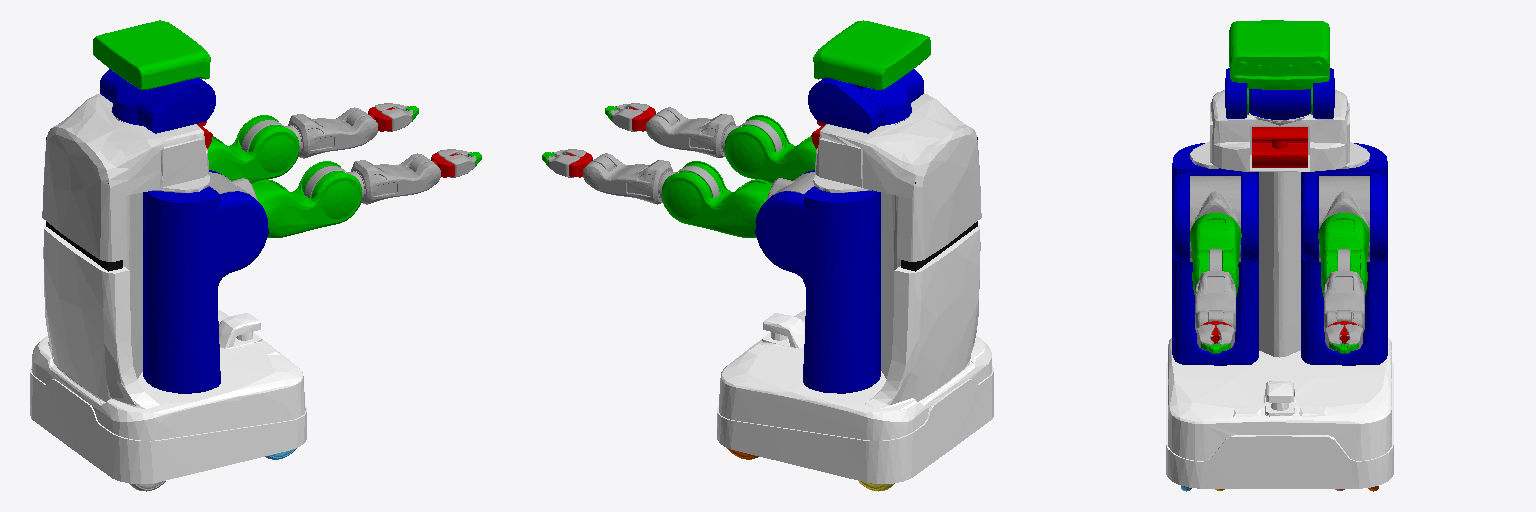
--- What the picture shows (computed from the rendered views, not written in the file) ---
Views: 3 orthographic renders of the robot side by side, from view 1: azimuth 30°, elevation 25°; view 2: azimuth 150°, elevation 25°; view 3: azimuth 270°, elevation 25°.
Model pr2 with 88 links and 87 joints (21 revolute, 19 continuous, 5 prismatic, 42 fixed), rooted at base_footprint, posed every joint at zero.
Links seen in each view (by area): view 1: base_link, torso_lift_link, r_shoulder_pan_link, head_tilt_link, r_upper_arm_link, head_pan_link, l_upper_arm_link, l_forearm_link, r_forearm_link, r_shoulder_lift_link; view 2: base_link, torso_lift_link, l_shoulder_pan_link, head_tilt_link, l_upper_arm_link, head_pan_link, r_upper_arm_link, l_forearm_link, r_forearm_link, l_shoulder_lift_link; view 3: base_link, torso_lift_link, r_shoulder_pan_link, l_shoulder_pan_link, head_tilt_link, head_pan_link, l_upper_arm_link, r_upper_arm_link, laser_tilt_mount_link, r_shoulder_lift_link, l_shoulder_lift_link, l_forearm_link (+1 smaller).
Link boxes in pixels (x1,y1,x2,y2): base_link: (30,224,306,483); torso_lift_link: (42,94,209,378); r_shoulder_pan_link: (143,170,268,393); head_tilt_link: (93,20,210,89); r_upper_arm_link: (251,161,361,237); head_pan_link: (100,69,215,133); l_upper_arm_link: (207,115,299,182); l_forearm_link: (288,107,377,158); r_forearm_link: (351,153,440,204); r_shoulder_lift_link: (208,172,257,200); base_link: (717,223,993,483); torso_lift_link: (813,93,981,378); l_shoulder_pan_link: (755,170,880,393); head_tilt_link: (813,20,930,89); l_upper_arm_link: (662,161,772,237); head_pan_link: (808,69,923,133); r_upper_arm_link: (724,115,816,182); l_forearm_link: (583,153,672,204); r_forearm_link: (646,107,735,157); l_shoulder_lift_link: (766,172,815,200); base_link: (1166,338,1393,488); torso_lift_link: (1190,90,1369,357); r_shoulder_pan_link: (1172,143,1258,365); l_shoulder_pan_link: (1301,143,1387,365); head_tilt_link: (1229,20,1329,114); head_pan_link: (1225,68,1334,119); l_upper_arm_link: (1318,213,1369,296); r_upper_arm_link: (1190,213,1241,296); laser_tilt_mount_link: (1252,127,1307,167); r_shoulder_lift_link: (1190,176,1240,261); l_shoulder_lift_link: (1319,176,1369,261); l_forearm_link: (1324,271,1364,332).
Size in the robot's own frame: 1.31 by 0.6668 by 1.33 metres.
35 mesh visuals loaded from 19 distinct referenced files (15 Collada DAE); not drawn: 10 (reference not matched to a file when rendering).

robot.urdf — pr2:
<?xml version="1.0" ?>
<!-- =================================================================================== -->
<!-- |    This document was autogenerated by xacro from [local-path]\Anaconda3\envs\urdf_analyzer\Lib\site-packages\rtbdata\xacro\pr2_description\robots\pr2.urdf.xacro | -->
<!-- |    EDITING THIS FILE BY HAND IS NOT RECOMMENDED                                 | -->
<!-- =================================================================================== -->
<robot name="pr2">
  <material name="Blue">
    <color rgba="0.0 0.0 0.8 1.0"/>
  </material>
  <material name="Green">
    <color rgba="0.0 0.8 0.0 1.0"/>
  </material>
  <material name="Grey">
    <color rgba="0.7 0.7 0.7 1.0"/>
  </material>
  <material name="Grey2">
    <color rgba="0.9 0.9 0.9 1.0"/>
  </material>
  <material name="Red">
    <color rgba="0.8 0.0 0.0 1.0"/>
  </material>
  <material name="White">
    <color rgba="1.0 1.0 1.0 1.0"/>
  </material>
  <material name="Black">
    <color rgba="0.1 0.1 0.1 1.0"/>
  </material>
  <material name="LightGrey">
    <color rgba="0.6 0.6 0.6 1.0"/>
  </material>
  <material name="Caster">
    <texture filename="package://pr2_description/materials/textures/pr2_caster_texture.png"/>
  </material>
  <material name="Wheel_l">
    <texture filename="package://pr2_description/materials/textures/pr2_wheel_left.png"/>
  </material>
  <material name="Wheel_r">
    <texture filename="package://pr2_description/materials/textures/pr2_wheel_right.png"/>
  </material>
  <material name="RollLinks">
    <texture filename="package://pr2_description/materials/textures/pr2_wheel_left.png"/>
  </material>
  <!--TODO Define and give source-->
  <!-- ============================   Shoulder   ============================ -->
  <!-- ============================   Upper Arm   ============================ -->
  <!-- ============================   Forearm   ============================ -->
  <!-- DATA SOURCES -->
  <!-- all link offsets, CG, limits are obtained from Function Engineering spreadsheet 090224_link_data.xls unless stated otherwise -->
  <!-- all link geometry sizes are obtained from Function provided CAD model unless stated otherwise -->
  <!-- all simplified collision geometry are hand approximated from CAD model, sometimes from respective bounding boxes -->
  <!-- This is the 'effective' wheel radius. Wheel radius for uncompressed wheel is 0.079.  mp 20080801 -->
  <gazebo>
    <plugin filename="libgazebo_ros_controller_manager.so" name="gazebo_ros_controller_manager">
      <alwaysOn>true</alwaysOn>
      <updateRate>1000.0</updateRate>
    </plugin>
    <plugin filename="libgazebo_ros_power_monitor.so" name="gazebo_ros_power_monitor_controller">
      <alwaysOn>true</alwaysOn>
      <updateRate>1.0</updateRate>
      <timeout>5</timeout>
      <powerStateTopic>power_state</powerStateTopic>
      <powerStateRate>10.0</powerStateRate>
      <fullChargeCapacity>87.78</fullChargeCapacity>
      <dischargeRate>-474</dischargeRate>
      <chargeRate>525</chargeRate>
      <dischargeVoltage>15.52</dischargeVoltage>
      <chargeVoltage>16.41</chargeVoltage>
    </plugin>
  </gazebo>
  <!-- Now we can start using the macros included above to define the actual PR2 -->
  <link name="base_link">
    <inertial>
      <mass value="116.0"/>
      <origin xyz="-0.061 0.0 0.1465"/>
      <inertia ixx="5.652232699207" ixy="-0.009719934438" ixz="1.293988226423" iyy="5.669473158652" iyz="-0.007379583694" izz="3.683196351726"/>
    </inertial>
    <visual>
      <origin rpy="0 0 0" xyz="0 0 0"/>
      <geometry>
        <mesh filename="package://pr2_description/meshes/base_v0/base.dae"/>
      </geometry>
      <material name="White"/>
    </visual>
    <collision>
      <origin rpy="0 0 0" xyz="0 0 0"/>
      <geometry>
        <mesh filename="package://pr2_description/meshes/base_v0/base_L.stl"/>
      </geometry>
    </collision>
  </link>
  <!-- base_footprint is a fictitious link(frame) that is on the ground right below base_link origin,
         navigation stack dedpends on this frame -->
  <link name="base_footprint">
    <visual>
      <origin rpy="0 0 0" xyz="0 0 0"/>
      <geometry>
        <box size="0.01 0.01 0.01"/>
      </geometry>
      <material name="White"/>
    </visual>
    <collision>
      <!-- represent base collision with a simple rectangular model, positioned by base_size_z s.t. top
             surface of the collision box matches the top surface of the PR2 base -->
      <origin rpy="0 0 0" xyz="0 0 0.071"/>
      <geometry>
        <box size="0.001 0.001 0.001"/>
      </geometry>
    </collision>
  </link>
  <joint name="base_footprint_joint" type="fixed">
    <origin rpy="0 0 0" xyz="0 0 0.051"/>
    <child link="base_link"/>
    <parent link="base_footprint"/>
  </joint>
  <!-- visualize bellow -->
  <link name="base_bellow_link">
    <inertial>
      <mass value="1.0"/>
      <origin xyz="0 0 0"/>
      <inertia ixx="0.01" ixy="0.0" ixz="0.0" iyy="0.01" iyz="0.0" izz="0.01"/>
    </inertial>
    <visual>
      <origin rpy="0 0 0" xyz="0 0 0"/>
      <geometry>
        <box size="0.05 0.37 0.3"/>
      </geometry>
      <material name="Black"/>
    </visual>
    <collision>
      <origin rpy="0 0 0" xyz="0 0 0"/>
      <geometry>
        <box size="0.05 0.37 0.3"/>
      </geometry>
    </collision>
  </link>
  <joint name="base_bellow_joint" type="fixed">
    <origin rpy="0 0 0" xyz="-0.29 0 0.8"/>
    <parent link="base_link"/>
    <child link="base_bellow_link"/>
  </joint>
  <joint name="base_laser_joint" type="fixed">
    <axis xyz="0 1 0"/>
    <origin rpy="0 0 0" xyz="0.275 0.0 0.252"/>
    <parent link="base_link"/>
    <child link="base_laser_link"/>
  </joint>
  <link name="base_laser_link" type="laser">
    <inertial>
      <mass value="0.001"/>
      <origin rpy="0 0 0" xyz="0 0 0"/>
      <inertia ixx="0.0001" ixy="0" ixz="0" iyy="0.000001" iyz="0" izz="0.0001"/>
    </inertial>
  </link>
  <gazebo reference="base_laser_link">
    <sensor name="base_laser" type="ray">
      <always_on>true</always_on>
      <update_rate>20</update_rate>
      <pose>0 0 0 0 0 0</pose>
      <visualize>false</visualize>
      <ray>
        <scan>
          <horizontal>
            <samples>640</samples>
            <resolution>1</resolution>
            <min_angle>-2.2689</min_angle>
            <max_angle>2.2689</max_angle>
          </horizontal>
        </scan>
        <range>
          <min>0.08</min>
          <max>10.0</max>
          <resolution>0.01</resolution>
        </range>
      </ray>
      <plugin filename="libgazebo_ros_laser.so" name="gazebo_ros_base_laser_controller">
        <gaussianNoise>0.005</gaussianNoise>
        <alwaysOn>true</alwaysOn>
        <updateRate>20</updateRate>
        <topicName>base_scan</topicName>
        <frameName>base_laser_link</frameName>
        <hokuyoMinIntensity>101</hokuyoMinIntensity>
      </plugin>
    </sensor>
  </gazebo>
  <joint name="fl_caster_rotation_joint" type="continuous">
    <axis xyz="0 0 1"/>
    <limit effort="6.5" velocity="10"/>
    <!-- alpha tested velocity and effort limits -->
    <safety_controller k_velocity="10"/>
    <calibration rising="-0.7853981633974483"/>
    <dynamics damping="1.0" friction="0.0"/>
    <origin rpy="0 0 0" xyz="0.2246 0.2246 0.0282"/>
    <parent link="base_link"/>
    <child link="fl_caster_rotation_link"/>
  </joint>
  <link name="fl_caster_rotation_link">
    <inertial>
      <mass value="3.473082"/>
      <origin xyz="0 0 0.07"/>
      <inertia ixx="0.012411765597" ixy="-0.000711733678" ixz="0.00050272983" iyy="0.015218160428" iyz="-0.000004273467" izz="0.011763977943"/>
    </inertial>
    <visual>
      <origin rpy="0 0 0" xyz="0 0 0"/>
      <geometry>
        <mesh filename="package://pr2_description/meshes/base_v0/caster.stl"/>
      </geometry>
      <material name="Caster"/>
    </visual>
    <collision>
      <origin rpy="0 0 0" xyz="0 0 0"/>
      <geometry>
        <mesh filename="package://pr2_description/meshes/base_v0/caster_L.stl"/>
      </geometry>
    </collision>
  </link>
  <transmission name="fl_caster_rotation_trans" type="pr2_mechanism_model/SimpleTransmission">
    <actuator name="fl_caster_rotation_motor"/>
    <joint name="fl_caster_rotation_joint"/>
    <mechanicalReduction>-79.23809523809524</mechanicalReduction>
  </transmission>
  <joint name="fl_caster_l_wheel_joint" type="continuous">
    <axis xyz="0 1 0"/>
    <limit effort="7" velocity="15"/>
    <!-- alpha tested effort and velocity limits -->
    <safety_controller k_velocity="10"/>
    <dynamics damping="1.0" friction="0.0"/>
    <origin rpy="0 0 0" xyz="0 0.049 0"/>
    <parent link="fl_caster_rotation_link"/>
    <child link="fl_caster_l_wheel_link"/>
  </joint>
  <link name="fl_caster_l_wheel_link">
    <inertial>
      <mass value="0.44036"/>
      <origin xyz="0 0 0"/>
      <inertia ixx="0.012411765597" ixy="-0.000711733678" ixz="0.00050272983" iyy="0.015218160428" iyz="-0.000004273467" izz="0.011763977943"/>
    </inertial>
    <visual>
      <origin rpy="0 0 0" xyz="0 0 0"/>
      <geometry>
        <mesh filename="package://pr2_description/meshes/base_v0/wheel.dae"/>
      </geometry>
      <material name="Wheel_l"/>
    </visual>
    <collision>
      <origin rpy="1.5707963267948966 0 0" xyz="0 0 0"/>
      <!-- rotation because cyl. geom primitive has symmetry axis in +x direction -->
      <geometry>
        <cylinder length="0.034" radius="0.074792"/>
      </geometry>
    </collision>
  </link>
  <gazebo reference="fl_caster_l_wheel_link">
    <mu1 value="100.0"/>
    <mu2 value="100.0"/>
    <kp value="1000000.0"/>
    <kd value="1.0"/>
    <maxVel value="100.0"/>
    <minDepth value="0.0"/>
  </gazebo>
  <transmission name="fl_caster_l_wheel_trans" type="pr2_mechanism_model/SimpleTransmission">
    <actuator name="fl_caster_l_wheel_motor"/>
    <joint name="fl_caster_l_wheel_joint"/>
    <mechanicalReduction>79.23809523809524</mechanicalReduction>
  </transmission>
  <joint name="fl_caster_r_wheel_joint" type="continuous">
    <axis xyz="0 1 0"/>
    <limit effort="7" velocity="15"/>
    <!-- alpha tested effort and velocity limits -->
    <safety_controller k_velocity="10"/>
    <dynamics damping="1.0" friction="0.0"/>
    <origin rpy="0 0 0" xyz="0 -0.049 0"/>
    <parent link="fl_caster_rotation_link"/>
    <child link="fl_caster_r_wheel_link"/>
  </joint>
  <link name="fl_caster_r_wheel_link">
    <inertial>
      <mass value="0.44036"/>
      <origin xyz="0 0 0"/>
      <inertia ixx="0.012411765597" ixy="-0.000711733678" ixz="0.00050272983" iyy="0.015218160428" iyz="-0.000004273467" izz="0.011763977943"/>
    </inertial>
    <visual>
      <origin rpy="0 0 0" xyz="0 0 0"/>
      <geometry>
        <mesh filename="package://pr2_description/meshes/base_v0/wheel.dae"/>
      </geometry>
      <material name="Wheel_r"/>
    </visual>
    <collision>
      <origin rpy="1.5707963267948966 0 0" xyz="0 0 0"/>
      <!-- rotation because cyl. geom primitive has symmetry axis in +x direction -->
      <geometry>
        <cylinder length="0.034" radius="0.074792"/>
      </geometry>
    </collision>
  </link>
  <gazebo reference="fl_caster_r_wheel_link">
    <mu1 value="100.0"/>
    <mu2 value="100.0"/>
    <kp value="1000000.0"/>
    <kd value="1.0"/>
    <maxVel value="100.0"/>
    <minDepth value="0.0"/>
  </gazebo>
  <transmission name="fl_caster_r_wheel_trans" type="pr2_mechanism_model/SimpleTransmission">
    <actuator name="fl_caster_r_wheel_motor"/>
    <joint name="fl_caster_r_wheel_joint"/>
    <mechanicalReduction>-79.23809523809524</mechanicalReduction>
  </transmission>
  <gazebo reference="fl_caster_rotation_link">
    <material value="PR2/caster_texture"/>
  </gazebo>
  <joint name="fr_caster_rotation_joint" type="continuous">
    <axis xyz="0 0 1"/>
    <limit effort="6.5" velocity="10"/>
    <!-- alpha tested velocity and effort limits -->
    <safety_controller k_velocity="10"/>
    <calibration rising="-0.7853981633974483"/>
    <dynamics damping="1.0" friction="0.0"/>
    <origin rpy="0 0 0" xyz="0.2246 -0.2246 0.0282"/>
    <parent link="base_link"/>
    <child link="fr_caster_rotation_link"/>
  </joint>
  <link name="fr_caster_rotation_link">
    <inertial>
      <mass value="3.473082"/>
      <origin xyz="0 0 0.07"/>
      <inertia ixx="0.012411765597" ixy="-0.000711733678" ixz="0.00050272983" iyy="0.015218160428" iyz="-0.000004273467" izz="0.011763977943"/>
    </inertial>
    <visual>
      <origin rpy="0 0 0" xyz="0 0 0"/>
      <geometry>
        <mesh filename="package://pr2_description/meshes/base_v0/caster.stl"/>
      </geometry>
      <material name="Caster"/>
    </visual>
    <collision>
      <origin rpy="0 0 0" xyz="0 0 0"/>
      <geometry>
        <mesh filename="package://pr2_description/meshes/base_v0/caster_L.stl"/>
      </geometry>
    </collision>
  </link>
  <transmission name="fr_caster_rotation_trans" type="pr2_mechanism_model/SimpleTransmission">
    <actuator name="fr_caster_rotation_motor"/>
    <joint name="fr_caster_rotation_joint"/>
    <mechanicalReduction>-79.23809523809524</mechanicalReduction>
  </transmission>
  <joint name="fr_caster_l_wheel_joint" type="continuous">
    <axis xyz="0 1 0"/>
    <limit effort="7" velocity="15"/>
    <!-- alpha tested effort and velocity limits -->
    <safety_controller k_velocity="10"/>
    <dynamics damping="1.0" friction="0.0"/>
    <origin rpy="0 0 0" xyz="0 0.049 0"/>
    <parent link="fr_caster_rotation_link"/>
    <child link="fr_caster_l_wheel_link"/>
  </joint>
  <link name="fr_caster_l_wheel_link">
    <inertial>
      <mass value="0.44036"/>
      <origin xyz="0 0 0"/>
      <inertia ixx="0.012411765597" ixy="-0.000711733678" ixz="0.00050272983" iyy="0.015218160428" iyz="-0.000004273467" izz="0.011763977943"/>
    </inertial>
    <visual>
      <origin rpy="0 0 0" xyz="0 0 0"/>
      <geometry>
        <mesh filename="package://pr2_description/meshes/base_v0/wheel.dae"/>
      </geometry>
      <material name="Wheel_l"/>
    </visual>
    <collision>
      <origin rpy="1.5707963267948966 0 0" xyz="0 0 0"/>
      <!-- rotation because cyl. geom primitive has symmetry axis in +x direction -->
      <geometry>
        <cylinder length="0.034" radius="0.074792"/>
      </geometry>
    </collision>
  </link>
  <gazebo reference="fr_caster_l_wheel_link">
    <mu1 value="100.0"/>
    <mu2 value="100.0"/>
    <kp value="1000000.0"/>
    <kd value="1.0"/>
    <maxVel value="100.0"/>
    <minDepth value="0.0"/>
  </gazebo>
  <transmission name="fr_caster_l_wheel_trans" type="pr2_mechanism_model/SimpleTransmission">
    <actuator name="fr_caster_l_wheel_motor"/>
    <joint name="fr_caster_l_wheel_joint"/>
    <mechanicalReduction>79.23809523809524</mechanicalReduction>
  </transmission>
  <joint name="fr_caster_r_wheel_joint" type="continuous">
    <axis xyz="0 1 0"/>
    <limit effort="7" velocity="15"/>
    <!-- alpha tested effort and velocity limits -->
    <safety_controller k_velocity="10"/>
    <dynamics damping="1.0" friction="0.0"/>
    <origin rpy="0 0 0" xyz="0 -0.049 0"/>
    <parent link="fr_caster_rotation_link"/>
    <child link="fr_caster_r_wheel_link"/>
  </joint>
  <link name="fr_caster_r_wheel_link">
    <inertial>
      <mass value="0.44036"/>
      <origin xyz="0 0 0"/>
      <inertia ixx="0.012411765597" ixy="-0.000711733678" ixz="0.00050272983" iyy="0.015218160428" iyz="-0.000004273467" izz="0.011763977943"/>
    </inertial>
    <visual>
      <origin rpy="0 0 0" xyz="0 0 0"/>
      <geometry>
        <mesh filename="package://pr2_description/meshes/base_v0/wheel.dae"/>
      </geometry>
      <material name="Wheel_r"/>
    </visual>
    <collision>
      <origin rpy="1.5707963267948966 0 0" xyz="0 0 0"/>
      <!-- rotation because cyl. geom primitive has symmetry axis in +x direction -->
      <geometry>
        <cylinder length="0.034" radius="0.074792"/>
      </geometry>
    </collision>
  </link>
  <gazebo reference="fr_caster_r_wheel_link">
    <mu1 value="100.0"/>
    <mu2 value="100.0"/>
    <kp value="1000000.0"/>
    <kd value="1.0"/>
    <maxVel value="100.0"/>
    <minDepth value="0.0"/>
  </gazebo>
  <transmission name="fr_caster_r_wheel_trans" type="pr2_mechanism_model/SimpleTransmission">
    <actuator name="fr_caster_r_wheel_motor"/>
    <joint name="fr_caster_r_wheel_joint"/>
    <mechanicalReduction>-79.23809523809524</mechanicalReduction>
  </transmission>
  <gazebo reference="fr_caster_rotation_link">
    <material value="PR2/caster_texture"/>
  </gazebo>
  <joint name="bl_caster_rotation_joint" type="continuous">
    <axis xyz="0 0 1"/>
    <limit effort="6.5" velocity="10"/>
    <!-- alpha tested velocity and effort limits -->
    <safety_controller k_velocity="10"/>
    <calibration rising="2.356194490192345"/>
    <dynamics damping="1.0" friction="0.0"/>
    <origin rpy="0 0 0" xyz="-0.2246 0.2246 0.0282"/>
    <parent link="base_link"/>
    <child link="bl_caster_rotation_link"/>
  </joint>
  <link name="bl_caster_rotation_link">
    <inertial>
      <mass value="3.473082"/>
      <origin xyz="0 0 0.07"/>
      <inertia ixx="0.012411765597" ixy="-0.000711733678" ixz="0.00050272983" iyy="0.015218160428" iyz="-0.000004273467" izz="0.011763977943"/>
    </inertial>
    <visual>
      <origin rpy="0 0 0" xyz="0 0 0"/>
      <geometry>
        <mesh filename="package://pr2_description/meshes/base_v0/caster.stl"/>
      </geometry>
      <material name="Caster"/>
    </visual>
    <collision>
      <origin rpy="0 0 0" xyz="0 0 0"/>
      <geometry>
        <mesh filename="package://pr2_description/meshes/base_v0/caster_L.stl"/>
      </geometry>
    </collision>
  </link>
  <transmission name="bl_caster_rotation_trans" type="pr2_mechanism_model/SimpleTransmission">
    <actuator name="bl_caster_rotation_motor"/>
    <joint name="bl_caster_rotation_joint"/>
    <mechanicalReduction>-79.23809523809524</mechanicalReduction>
  </transmission>
  <joint name="bl_caster_l_wheel_joint" type="continuous">
    <axis xyz="0 1 0"/>
    <limit effort="7" velocity="15"/>
    <!-- alpha tested effort and velocity limits -->
    <safety_controller k_velocity="10"/>
    <dynamics damping="1.0" friction="0.0"/>
    <origin rpy="0 0 0" xyz="0 0.049 0"/>
    <parent link="bl_caster_rotation_link"/>
    <child link="bl_caster_l_wheel_link"/>
  </joint>
  <link name="bl_caster_l_wheel_link">
    <inertial>
      <mass value="0.44036"/>
      <origin xyz="0 0 0"/>
      <inertia ixx="0.012411765597" ixy="-0.000711733678" ixz="0.00050272983" iyy="0.015218160428" iyz="-0.000004273467" izz="0.011763977943"/>
    </inertial>
    <visual>
      <origin rpy="0 0 0" xyz="0 0 0"/>
      <geometry>
        <mesh filename="package://pr2_description/meshes/base_v0/wheel.dae"/>
      </geometry>
      <material name="Wheel_l"/>
    </visual>
    <collision>
      <origin rpy="1.5707963267948966 0 0" xyz="0 0 0"/>
      <!-- rotation because cyl. geom primitive has symmetry axis in +x direction -->
      <geometry>
        <cylinder length="0.034" radius="0.074792"/>
      </geometry>
    </collision>
  </link>
  <gazebo reference="bl_caster_l_wheel_link">
    <mu1 value="100.0"/>
    <mu2 value="100.0"/>
    <kp value="1000000.0"/>
    <kd value="1.0"/>
    <maxVel value="100.0"/>
    <minDepth value="0.0"/>
  </gazebo>
  <transmission name="bl_caster_l_wheel_trans" type="pr2_mechanism_model/SimpleTransmission">
    <actuator name="bl_caster_l_wheel_motor"/>
    <joint name="bl_caster_l_wheel_joint"/>
    <mechanicalReduction>79.23809523809524</mechanicalReduction>
  </transmission>
  <joint name="bl_caster_r_wheel_joint" type="continuous">
    <axis xyz="0 1 0"/>
    <limit effort="7" velocity="15"/>
    <!-- alpha tested effort and velocity limits -->
    <safety_controller k_velocity="10"/>
    <dynamics damping="1.0" friction="0.0"/>
    <origin rpy="0 0 0" xyz="0 -0.049 0"/>
    <parent link="bl_caster_rotation_link"/>
    <child link="bl_caster_r_wheel_link"/>
  </joint>
  <link name="bl_caster_r_wheel_link">
    <inertial>
      <mass value="0.44036"/>
      <origin xyz="0 0 0"/>
      <inertia ixx="0.012411765597" ixy="-0.000711733678" ixz="0.00050272983" iyy="0.015218160428" iyz="-0.000004273467" izz="0.011763977943"/>
    </inertial>
    <visual>
      <origin rpy="0 0 0" xyz="0 0 0"/>
      <geometry>
        <mesh filename="package://pr2_description/meshes/base_v0/wheel.dae"/>
      </geometry>
      <material name="Wheel_r"/>
    </visual>
    <collision>
      <origin rpy="1.5707963267948966 0 0" xyz="0 0 0"/>
      <!-- rotation because cyl. geom primitive has symmetry axis in +x direction -->
      <geometry>
        <cylinder length="0.034" radius="0.074792"/>
      </geometry>
    </collision>
  </link>
  <gazebo reference="bl_caster_r_wheel_link">
    <mu1 value="100.0"/>
    <mu2 value="100.0"/>
    <kp value="1000000.0"/>
    <kd value="1.0"/>
    <maxVel value="100.0"/>
    <minDepth value="0.0"/>
  </gazebo>
  <transmission name="bl_caster_r_wheel_trans" type="pr2_mechanism_model/SimpleTransmission">
    <actuator name="bl_caster_r_wheel_motor"/>
    <joint name="bl_caster_r_wheel_joint"/>
    <mechanicalReduction>-79.23809523809524</mechanicalReduction>
  </transmission>
  <gazebo reference="bl_caster_rotation_link">
    <material value="PR2/caster_texture"/>
  </gazebo>
  <joint name="br_caster_rotation_joint" type="continuous">
    <axis xyz="0 0 1"/>
    <limit effort="6.5" velocity="10"/>
    <!-- alpha tested velocity and effort limits -->
    <safety_controller k_velocity="10"/>
    <calibration rising="2.356194490192345"/>
    <dynamics damping="1.0" friction="0.0"/>
    <origin rpy="0 0 0" xyz="-0.2246 -0.2246 0.0282"/>
    <parent link="base_link"/>
    <child link="br_caster_rotation_link"/>
  </joint>
  <link name="br_caster_rotation_link">
    <inertial>
      <mass value="3.473082"/>
      <origin xyz="0 0 0.07"/>
      <inertia ixx="0.012411765597" ixy="-0.000711733678" ixz="0.00050272983" iyy="0.015218160428" iyz="-0.000004273467" izz="0.011763977943"/>
    </inertial>
    <visual>
      <origin rpy="0 0 0" xyz="0 0 0"/>
      <geometry>
        <mesh filename="package://pr2_description/meshes/base_v0/caster.stl"/>
      </geometry>
      <material name="Caster"/>
    </visual>
    <collision>
      <origin rpy="0 0 0" xyz="0 0 0"/>
      <geometry>
        <mesh filename="package://pr2_description/meshes/base_v0/caster_L.stl"/>
      </geometry>
    </collision>
  </link>
  <transmission name="br_caster_rotation_trans" type="pr2_mechanism_model/SimpleTransmission">
    <actuator name="br_caster_rotation_motor"/>
    <joint name="br_caster_rotation_joint"/>
    <mechanicalReduction>-79.23809523809524</mechanicalReduction>
  </transmission>
  <joint name="br_caster_l_wheel_joint" type="continuous">
    <axis xyz="0 1 0"/>
    <limit effort="7" velocity="15"/>
    <!-- alpha tested effort and velocity limits -->
    <safety_controller k_velocity="10"/>
    <dynamics damping="1.0" friction="0.0"/>
    <origin rpy="0 0 0" xyz="0 0.049 0"/>
    <parent link="br_caster_rotation_link"/>
    <child link="br_caster_l_wheel_link"/>
  </joint>
  <link name="br_caster_l_wheel_link">
    <inertial>
      <mass value="0.44036"/>
      <origin xyz="0 0 0"/>
      <inertia ixx="0.012411765597" ixy="-0.000711733678" ixz="0.00050272983" iyy="0.015218160428" iyz="-0.000004273467" izz="0.011763977943"/>
    </inertial>
    <visual>
      <origin rpy="0 0 0" xyz="0 0 0"/>
      <geometry>
        <mesh filename="package://pr2_description/meshes/base_v0/wheel.dae"/>
      </geometry>
      <material name="Wheel_l"/>
    </visual>
    <collision>
      <origin rpy="1.5707963267948966 0 0" xyz="0 0 0"/>
      <!-- rotation because cyl. geom primitive has symmetry axis in +x direction -->
      <geometry>
        <cylinder length="0.034" radius="0.074792"/>
      </geometry>
    </collision>
  </link>
  <gazebo reference="br_caster_l_wheel_link">
    <mu1 value="100.0"/>
    <mu2 value="100.0"/>
    <kp value="1000000.0"/>
    <kd value="1.0"/>
    <maxVel value="100.0"/>
    <minDepth value="0.0"/>
  </gazebo>
  <transmission name="br_caster_l_wheel_trans" type="pr2_mechanism_model/SimpleTransmission">
    <actuator name="br_caster_l_wheel_motor"/>
    <joint name="br_caster_l_wheel_joint"/>
    <mechanicalReduction>79.23809523809524</mechanicalReduction>
  </transmission>
  <joint name="br_caster_r_wheel_joint" type="continuous">
    <axis xyz="0 1 0"/>
    <limit effort="7" velocity="15"/>
    <!-- alpha tested effort and velocity limits -->
    <safety_controller k_velocity="10"/>
    <dynamics damping="1.0" friction="0.0"/>
    <origin rpy="0 0 0" xyz="0 -0.049 0"/>
    <parent link="br_caster_rotation_link"/>
    <child link="br_caster_r_wheel_link"/>
  </joint>
  <link name="br_caster_r_wheel_link">
    <inertial>
      <mass value="0.44036"/>
      <origin xyz="0 0 0"/>
      <inertia ixx="0.012411765597" ixy="-0.000711733678" ixz="0.00050272983" iyy="0.015218160428" iyz="-0.000004273467" izz="0.011763977943"/>
    </inertial>
    <visual>
      <origin rpy="0 0 0" xyz="0 0 0"/>
      <geometry>
        <mesh filename="package://pr2_description/meshes/base_v0/wheel.dae"/>
      </geometry>
      <material name="Wheel_r"/>
    </visual>
    <collision>
      <origin rpy="1.5707963267948966 0 0" xyz="0 0 0"/>
      <!-- rotation because cyl. geom primitive has symmetry axis in +x direction -->
      <geometry>
        <cylinder length="0.034" radius="0.074792"/>
      </geometry>
    </collision>
  </link>
  <gazebo reference="br_caster_r_wheel_link">
    <mu1 value="100.0"/>
    <mu2 value="100.0"/>
    <kp value="1000000.0"/>
    <kd value="1.0"/>
    <maxVel value="100.0"/>
    <minDepth value="0.0"/>
  </gazebo>
  <transmission name="br_caster_r_wheel_trans" type="pr2_mechanism_model/SimpleTransmission">
    <actuator name="br_caster_r_wheel_motor"/>
    <joint name="br_caster_r_wheel_joint"/>
    <mechanicalReduction>-79.23809523809524</mechanicalReduction>
  </transmission>
  <gazebo reference="br_caster_rotation_link">
    <material value="PR2/caster_texture"/>
  </gazebo>
  <gazebo reference="base_link">
    <selfCollide>false</selfCollide>
    <sensor name="base_contact_sensor" type="contact">
      <always_on>true</always_on>
      <update_rate>100.0</update_rate>
      <contact>
        <collision>base_link_collision</collision>
      </contact>
      <plugin filename="libgazebo_ros_bumper.so" name="base_gazebo_ros_bumper_controller">
        <alwaysOn>true</alwaysOn>
        <updateRate>100.0</updateRate>
        <bumperTopicName>base_bumper</bumperTopicName>
        <frameName>world</frameName>
      </plugin>
    </sensor>
  </gazebo>
  <gazebo reference="base_bellow_link">
    <material value="PR2/Black"/>
  </gazebo>
  <gazebo>
    <plugin filename="libgazebo_ros_p3d.so" name="p3d_base_controller">
      <alwaysOn>true</alwaysOn>
      <updateRate>100.0</updateRate>
      <bodyName>base_link</bodyName>
      <topicName>base_pose_ground_truth</topicName>
      <gaussianNoise>0.01</gaussianNoise>
      <frameName>map</frameName>
      <xyzOffsets>0 0 0</xyzOffsets>
      <rpyOffsets>0 0 0</rpyOffsets>
    </plugin>
  </gazebo>
  <joint name="torso_lift_joint" type="prismatic">
    <axis xyz="0 0 1"/>
    <limit effort="10000" lower="0.0" upper="0.33" velocity="0.013"/>
    <!-- alpha tested velocity and effort limits -->
    <safety_controller k_position="100" k_velocity="2000000" soft_lower_limit="0.0115" soft_upper_limit="0.325"/>
    <calibration falling="0.00475"/>
    <dynamics damping="20000.0"/>
    <origin rpy="0 0 0" xyz="-0.05 0 0.739675"/>
    <parent link="base_link"/>
    <child link="torso_lift_link"/>
  </joint>
  <link name="torso_lift_link">
    <inertial>
      <mass value="36.248046"/>
      <origin xyz="-0.1 0 -0.0885"/>
      <inertia ixx="2.771653750257" ixy="0.004284522609" ixz="-0.160418504506" iyy="2.510019507959" iyz="0.029664468704" izz="0.526432355569"/>
    </inertial>
    <visual>
      <origin rpy="0 0 0" xyz="0 0 0"/>
      <geometry>
        <mesh filename="package://pr2_description/meshes/torso_v0/torso_lift.dae"/>
      </geometry>
      <material name="Grey2"/>
    </visual>
    <collision name="torso_lift_collision">
      <origin rpy="0 0 0" xyz="0 0 0"/>
      <geometry>
        <mesh filename="package://pr2_description/meshes/torso_v0/torso_lift_L.stl"/>
      </geometry>
    </collision>
  </link>
  <joint name="l_torso_lift_side_plate_joint" type="fixed">
    <origin xyz="0.0535 0.209285 0.176625"/>
    <!-- location of bottom front bolt hole location -->
    <parent link="torso_lift_link"/>
    <child link="l_torso_lift_side_plate_link"/>
  </joint>
  <link name="l_torso_lift_side_plate_link">
    <inertial>
      <mass value="0.1"/>
      <origin xyz="-0.0625 0.0 0.05"/>
      <!-- center of the 12.5cm by 10cm bolt hole pattern -->
      <inertia ixx="0.001" ixy="0.0" ixz="0.0" iyy="0.001" iyz="0.0" izz="0.001"/>
    </inertial>
  </link>
  <joint name="r_torso_lift_side_plate_joint" type="fixed">
    <origin xyz="0.0535  -0.209285 0.176625"/>
    <!-- location of bottom front bolt hole location -->
    <parent link="torso_lift_link"/>
    <child link="r_torso_lift_side_plate_link"/>
  </joint>
  <link name="r_torso_lift_side_plate_link">
    <inertial>
      <mass value="0.1"/>
      <origin xyz="-0.0625 0.0 0.05"/>
      <!-- center of the 12.5cm by 10cm bolt hole pattern -->
      <inertia ixx="0.001" ixy="0.0" ixz="0.0" iyy="0.001" iyz="0.0" izz="0.001"/>
    </inertial>
  </link>
  <!-- actuated motor screw joint -->
  <link name="torso_lift_motor_screw_link">
    <inertial>
      <mass value="1.0"/>
      <origin rpy="0 0 0" xyz="0 0 0"/>
      <inertia ixx="0.001" ixy="0.0" ixz="0.0" iyy="0.001" iyz="0.0" izz="0.001"/>
    </inertial>
    <!-- for debugging only
      <visual>
        <origin xyz="0 0 0" rpy="0 0 0" />
        <geometry>
          <box size="0.5 0.7 0.01" />
        </geometry>
      </visual>
      <collision>
        <origin xyz="0 0 0" rpy="0 0 0" />
        <geometry>
          <box size="0.5 0.7 0.01" />
        </geometry>
      </collision>
      -->
  </link>
  <joint name="torso_lift_motor_screw_joint" type="continuous">
    <origin xyz="-0.15 0.0 0.7"/>
    <axis xyz="0 0 1"/>
    <parent link="base_link"/>
    <child link="torso_lift_motor_screw_link"/>
    <dynamics damping="0.0001"/>
  </joint>
  <gazebo reference="torso_lift_link">
    <sensor name="torso_lift_contact_sensor" type="contact">
      <contact>
        <collision>torso_lift_link_collision</collision>
      </contact>
      <update_rate>100.0</update_rate>
      <plugin filename="libgazebo_ros_bumper.so" name="torso_lift_gazebo_ros_bumper_controller">
        <alwaysOn>true</alwaysOn>
        <updateRate>100.0</updateRate>
        <bumperTopicName>torso_lift_bumper</bumperTopicName>
        <frameName>world</frameName>
      </plugin>
    </sensor>
  </gazebo>
  <gazebo>
    <joint name="torso_lift_screw_torso_lift_joint" type="screw">
      <parent>torso_lift_link</parent>
      <child>torso_lift_motor_screw_link</child>
      <axis>
        <xyz>0 0 1</xyz>
      </axis>
      <thread_pitch>3141.6</thread_pitch>
    </joint>
  </gazebo>
  <transmission name="torso_lift_trans" type="pr2_mechanism_model/SimpleTransmission">
    <actuator name="torso_lift_motor"/>
    <joint name="torso_lift_joint"/>
    <mechanicalReduction>-47641.53</mechanicalReduction>
    <simulated_actuated_joint name="torso_lift_motor_screw_joint" simulated_reduction="3141.6"/>
  </transmission>
  <joint name="imu_joint" type="fixed">
    <axis xyz="0 1 0"/>
    <origin rpy="0 3.141592653589793 0" xyz="-0.02977 -0.1497 0.164"/>
    <parent link="torso_lift_link"/>
    <child link="imu_link"/>
  </joint>
  <link name="imu_link">
    <inertial>
      <mass value="0.001"/>
      <origin rpy="0 0 0" xyz="0 0 0"/>
      <inertia ixx="0.0001" ixy="0" ixz="0" iyy="0.000001" iyz="0" izz="0.0001"/>
    </inertial>
  </link>
  <gazebo>
    <plugin filename="libgazebo_ros_imu.so" name="imu_controller">
      <alwaysOn>true</alwaysOn>
      <updateRate>100.0</updateRate>
      <bodyName>imu_link</bodyName>
      <topicName>torso_lift_imu/data</topicName>
      <gaussianNoise>2.8900000000000004e-08</gaussianNoise>
      <xyzOffset>0 0 0</xyzOffset>
      <rpyOffset>0 -180.0 0</rpyOffset>
      <serviceName>/default_imu</serviceName>
    </plugin>
  </gazebo>
  <joint name="head_pan_joint" type="revolute">
    <axis xyz="0 0 1"/>
    <limit effort="2.645" lower="-3.007" upper="3.007" velocity="6"/>
    <!-- alpha tested velocity and effort limits -->
    <safety_controller k_position="100" k_velocity="1.5" soft_lower_limit="-2.857" soft_upper_limit="2.857"/>
    <calibration rising="0.0"/>
    <dynamics damping="0.5"/>
    <origin rpy="0.0 0.0 0.0" xyz="-0.01707 0.0 0.38145"/>
    <parent link="torso_lift_link"/>
    <child link="head_pan_link"/>
  </joint>
  <link name="head_pan_link">
    <inertial>
      <mass value="6.339"/>
      <!-- mass/cog/moi updated per 100505_link_data.xls -->
      <origin rpy="0 0 0" xyz="0.010907 0.031693 0.090507"/>
      <inertia ixx="0.032497592" ixy="0.00063604088" ixz="0.0025851534" iyy="0.046545627" iyz="-0.0024534295" izz="0.057652724"/>
    </inertial>
    <visual>
      <origin rpy="0 0 0 " xyz="0 0 0.0"/>
      <geometry>
        <mesh filename="package://pr2_description/meshes/head_v0/head_pan.dae"/>
      </geometry>
      <material name="Blue"/>
    </visual>
    <collision>
      <geometry>
        <mesh filename="package://pr2_description/meshes/head_v0/head_pan_L.stl"/>
      </geometry>
    </collision>
  </link>
  <transmission name="head_pan_trans" type="pr2_mechanism_model/SimpleTransmission">
    <actuator name="head_pan_motor"/>
    <joint name="head_pan_joint"/>
    <mechanicalReduction>6.0</mechanicalReduction>
  </transmission>
  <joint name="head_tilt_joint" type="revolute">
    <axis xyz="0 1 0"/>
    <limit effort="18" lower="-0.471238" upper="1.39626" velocity="5"/>
    <!-- alpha tested velocity and effort limits -->
    <safety_controller k_position="100" k_velocity="3.0" soft_lower_limit="-0.3712" soft_upper_limit="1.29626"/>
    <calibration falling="0.0"/>
    <dynamics damping="10.0"/>
    <origin rpy="0 0 0" xyz="0.068 0 0"/>
    <parent link="head_pan_link"/>
    <child link="head_tilt_link"/>
  </joint>
  <link name="head_tilt_link">
    <inertial>
      <mass value="4.479"/>
      <!-- mass/cog/moi updated per 100505_link_data.xls -->
      <origin rpy="0 0 0" xyz="0.001716 -0.019556 0.055002"/>
      <inertia ixx="0.024223222" ixy="0.00062063507" ixz="-0.000096909696" iyy="0.054723086" iyz="0.00279702400" izz="0.067306377"/>
    </inertial>
    <visual>
      <origin rpy="0.0 0.0 0.0" xyz="0 0 0"/>
      <geometry>
        <mesh filename="package://pr2_description/meshes/head_v0/head_tilt.dae"/>
      </geometry>
      <material name="Green"/>
    </visual>
    <collision>
      <origin rpy="0.0 0.0 0.0" xyz="0 0 0"/>
      <geometry>
        <mesh filename="package://pr2_description/meshes/head_v0/head_tilt_L.stl"/>
      </geometry>
    </collision>
  </link>
  <transmission name="head_tilt_trans" type="pr2_mechanism_model/SimpleTransmission">
    <actuator name="head_tilt_motor"/>
    <joint name="head_tilt_joint"/>
    <mechanicalReduction>6.0</mechanicalReduction>
  </transmission>
  <!-- Head plate frame -->
  <joint name="head_plate_frame_joint" type="fixed">
    <origin rpy="0 0 0" xyz="0.0232 0 0.0645"/>
    <parent link="head_tilt_link"/>
    <child link="head_plate_frame"/>
  </joint>
  <link name="head_plate_frame">
    <inertial>
      <mass value="0.01"/>
      <origin rpy="0 0 0" xyz="0 0 0"/>
      <inertia ixx="0.001" ixy="0.0" ixz="0.0" iyy="0.001" iyz="0.0" izz="0.001"/>
    </inertial>
    <visual>
      <origin rpy="0 0 0" xyz="0 0 0"/>
      <geometry>
        <box size="0.01 0.01 0.01"/>
      </geometry>
      <material name="Blue"/>
    </visual>
    <collision>
      <origin rpy="0 0 0" xyz="0 0 0"/>
      <geometry>
        <box size="0.01 0.01 0.01"/>
      </geometry>
    </collision>
  </link>
  <gazebo reference="head_plate_frame">
    <material value="Gazebo/Grey"/>
  </gazebo>
  <joint name="sensor_mount_frame_joint" type="fixed">
    <origin rpy="0 0 0" xyz="0.0 0.0 0.0"/>
    <parent link="head_plate_frame"/>
    <child link="sensor_mount_link"/>
  </joint>
  <link name="sensor_mount_link">
    <inertial>
      <!-- Needs verification with CAD -->
      <mass value="0.05"/>
      <origin rpy="0 0 0" xyz="0 0 0"/>
      <inertia ixx="0.001" ixy="0.0" ixz="0.0" iyy="0.001" iyz="0.0" izz="0.01"/>
    </inertial>
  </link>
  <joint name="high_def_frame_joint" type="fixed">
    <origin rpy="0 0 0" xyz="0.046457 -0.110 0.054600"/>
    <parent link="sensor_mount_link"/>
    <child link="high_def_frame"/>
  </joint>
  <link name="high_def_frame">
    <inertial>
      <mass value="0.01"/>
      <origin rpy="0 0 0" xyz="0 0 0"/>
      <inertia ixx="0.001" ixy="0.0" ixz="0.0" iyy="0.001" iyz="0.0" izz="0.001"/>
    </inertial>
  </link>
  <joint name="high_def_optical_frame_joint" type="fixed">
    <origin rpy="-1.5707963267948966 0.0 -1.5707963267948966" xyz="0.0            0.0         0.0"/>
    <parent link="high_def_frame"/>
    <child link="high_def_optical_frame"/>
  </joint>
  <link name="high_def_optical_frame">
    <inertial>
      <mass value="0.01"/>
      <origin rpy="0 0 0" xyz="0 0 0"/>
      <inertia ixx="0.001" ixy="0.0" ixz="0.0" iyy="0.001" iyz="0.0" izz="0.001"/>
    </inertial>
  </link>
  <gazebo reference="high_def_frame">
    <sensor name="high_def_sensor" type="camera">
      <always_on>true</always_on>
      <update_rate>20.0</update_rate>
      <camera>
        <horizontal_fov>0.7853981633974483</horizontal_fov>
        <image>
          <format>R8G8B8</format>
          <width>2448</width>
          <height>2050</height>
        </image>
        <clip>
          <near>0.1</near>
          <far>100</far>
        </clip>
      </camera>
      <plugin filename="libgazebo_ros_prosilica.so" name="high_def_controller">
        <updateRate>20.0</updateRate>
        <cameraName>prosilica</cameraName>
        <imageTopicName>image_raw</imageTopicName>
        <cameraInfoTopicName>camera_info</cameraInfoTopicName>
        <pollServiceName>request_image</pollServiceName>
        <frameName>high_def_optical_frame</frameName>
        <CxPrime>1224.5</CxPrime>
        <Cx>1224.5</Cx>
        <Cy>1025.5</Cy>
        <focalLength>2954.998083</focalLength>
        <distortionK1>0.0</distortionK1>
        <distortionK2>0.0</distortionK2>
        <distortionK3>0.0</distortionK3>
        <distortionT1>0.0</distortionT1>
        <distortionT2>0.0</distortionT2>
      </plugin>
    </sensor>
    <material value="Gazebo/Black"/>
  </gazebo>
  <!-- Define link to stereo cameras, set origin relative to that -->
  <joint name="double_stereo_frame_joint" type="fixed">
    <origin rpy="0 0 0" xyz="0.0 0.0 0.0"/>
    <parent link="sensor_mount_link"/>
    <child link="double_stereo_link"/>
  </joint>
  <link name="double_stereo_link">
    <inertial>
      <!-- Needs verification with CAD -->
      <mass value="0.1"/>
      <origin rpy="0 0 0" xyz="0 0 0"/>
      <inertia ixx="0.001" ixy="0.0" ixz="0.0" iyy="0.001" iyz="0.0" izz="0.01"/>
    </inertial>
  </link>
  <joint name="wide_stereo_frame_joint" type="fixed">
    <origin rpy="0.0   0.0   0.0" xyz="0.045 0.03 0.0501"/>
    <parent link="double_stereo_link"/>
    <child link="wide_stereo_link"/>
  </joint>
  <!-- camera link is at center of the optical frame, but in x-forward notation -->
  <link name="wide_stereo_link">
    <inertial>
      <mass value="0.1"/>
      <origin rpy="0 0 0" xyz="0 0 0"/>
      <inertia ixx="0.01" ixy="0" ixz="0" iyy="0.01" iyz="0" izz="0.01"/>
      <!-- this inertia is made up for now. -->
    </inertial>
  </link>
  <!-- attach optical frame to the camera link -->
  <joint name="wide_stereo_optical_frame_joint" type="fixed">
    <origin rpy="-1.5707963267948966 0.0 -1.5707963267948966" xyz="0 0 0"/>
    <!-- rotate frame from x-forward to z-forward camera coords -->
    <parent link="wide_stereo_link"/>
    <child link="wide_stereo_optical_frame"/>
  </joint>
  <!-- optical frame for the stereo camera, with z-forward notation, this is the frame stereo camera images users should refer to -->
  <link name="wide_stereo_optical_frame" type="camera"/>
  <joint name="wide_stereo_l_stereo_camera_frame_joint" type="fixed">
    <origin rpy="0 0 0" xyz="0 0 0"/>
    <parent link="wide_stereo_link"/>
    <child link="wide_stereo_l_stereo_camera_frame"/>
  </joint>
  <link name="wide_stereo_l_stereo_camera_frame">
    <inertial>
      <mass value="0.01"/>
      <origin xyz="0 0 0"/>
      <inertia ixx="0.001" ixy="0.0" ixz="0.0" iyy="0.001" iyz="0.0" izz="0.001"/>
    </inertial>
  </link>
  <joint name="wide_stereo_l_stereo_camera_optical_frame_joint" type="fixed">
    <origin rpy="-1.5707963267948966 0.0 -1.5707963267948966" xyz="0 0 0"/>
    <parent link="wide_stereo_l_stereo_camera_frame"/>
    <child link="wide_stereo_l_stereo_camera_optical_frame"/>
  </joint>
  <link name="wide_stereo_l_stereo_camera_optical_frame"/>
  <gazebo reference="wide_stereo_l_stereo_camera_frame">
    <sensor name="wide_stereo_l_stereo_camera_sensor" type="camera">
      <always_on>true</always_on>
      <update_rate>25.0</update_rate>
      <camera>
        <horizontal_fov>1.5707963267948966</horizontal_fov>
        <image>
          <format>BAYER_BGGR8</format>
          <width>640</width>
          <height>480</height>
        </image>
        <clip>
          <near>0.1</near>
          <far>100</far>
        </clip>
      </camera>
      <plugin filename="libgazebo_ros_camera.so" name="wide_stereo_l_stereo_camera_controller">
        <alwaysOn>true</alwaysOn>
        <updateRate>25.0</updateRate>
        <cameraName>wide_stereo/left</cameraName>
        <imageTopicName>image_raw</imageTopicName>
        <cameraInfoTopicName>camera_info</cameraInfoTopicName>
        <frameName>wide_stereo_optical_frame</frameName>
        <hackBaseline>0</hackBaseline>
        <CxPrime>320.5</CxPrime>
        <Cx>320.5</Cx>
        <Cy>240.5</Cy>
        <!-- image_width / (2*tan(hfov_radian /2)) -->
        <!-- 320 for wide and 772.55 for narrow stereo camera -->
        <focalLength>320.000105</focalLength>
        <distortionK1>0.0</distortionK1>
        <distortionK2>0.0</distortionK2>
        <distortionK3>0.0</distortionK3>
        <distortionT1>0.0</distortionT1>
        <distortionT2>0.0</distortionT2>
      </plugin>
    </sensor>
    <turnGravityOff>true</turnGravityOff>
    <material>PR2/Blue</material>
  </gazebo>
  <joint name="wide_stereo_r_stereo_camera_frame_joint" type="fixed">
    <origin rpy="0.0 0.0 0.0" xyz="0.0 -0.09 0.0"/>
    <parent link="wide_stereo_l_stereo_camera_frame"/>
    <child link="wide_stereo_r_stereo_camera_frame"/>
  </joint>
  <link name="wide_stereo_r_stereo_camera_frame">
    <inertial>
      <mass value="0.01"/>
      <origin xyz="0 0 0"/>
      <inertia ixx="0.001" ixy="0.0" ixz="0.0" iyy="0.001" iyz="0.0" izz="0.001"/>
    </inertial>
  </link>
  <joint name="wide_stereo_r_stereo_camera_optical_frame_joint" type="fixed">
    <origin rpy="-1.5707963267948966 0.0 -1.5707963267948966" xyz="0 0 0"/>
    <parent link="wide_stereo_r_stereo_camera_frame"/>
    <child link="wide_stereo_r_stereo_camera_optical_frame"/>
  </joint>
  <link name="wide_stereo_r_stereo_camera_optical_frame"/>
  <gazebo reference="wide_stereo_r_stereo_camera_frame">
    <sensor name="wide_stereo_r_stereo_camera_sensor" type="camera">
      <always_on>true</always_on>
      <update_rate>25.0</update_rate>
      <camera>
        <horizontal_fov>1.5707963267948966</horizontal_fov>
        <image>
          <format>BAYER_BGGR8</format>
          <width>640</width>
          <height>480</height>
        </image>
        <clip>
          <near>0.1</near>
          <far>100</far>
        </clip>
      </camera>
      <plugin filename="libgazebo_ros_camera.so" name="wide_stereo_r_stereo_camera_controller">
        <alwaysOn>true</alwaysOn>
        <updateRate>25.0</updateRate>
        <cameraName>wide_stereo/right</cameraName>
        <imageTopicName>image_raw</imageTopicName>
        <cameraInfoTopicName>camera_info</cameraInfoTopicName>
        <frameName>wide_stereo_optical_frame</frameName>
        <hackBaseline>0.09</hackBaseline>
        <CxPrime>320.5</CxPrime>
        <Cx>320.5</Cx>
        <Cy>240.5</Cy>
        <!-- image_width / (2*tan(hfov_radian /2)) -->
        <!-- 320 for wide and 772.55 for narrow stereo camera -->
        <focalLength>320.000105</focalLength>
        <distortionK1>0.0</distortionK1>
        <distortionK2>0.0</distortionK2>
        <distortionK3>0.0</distortionK3>
        <distortionT1>0.0</distortionT1>
        <distortionT2>0.0</distortionT2>
      </plugin>
    </sensor>
    <turnGravityOff>true</turnGravityOff>
    <material>PR2/Blue</material>
  </gazebo>
  <gazebo reference="wide_stereo_link">
    <material value="PR2/Blue"/>
    <turnGravityOff value="true"/>
  </gazebo>
  <gazebo reference="wide_stereo_optical_frame">
    <material value="Gazebo/White"/>
    <turnGravityOff value="true"/>
  </gazebo>
  <joint name="narrow_stereo_frame_joint" type="fixed">
    <origin rpy="0.0   0.0   0.0" xyz="0.045 0.06 0.0501"/>
    <parent link="double_stereo_link"/>
    <child link="narrow_stereo_link"/>
  </joint>
  <!-- camera link is at center of the optical frame, but in x-forward notation -->
  <link name="narrow_stereo_link">
    <inertial>
      <mass value="0.1"/>
      <origin rpy="0 0 0" xyz="0 0 0"/>
      <inertia ixx="0.01" ixy="0" ixz="0" iyy="0.01" iyz="0" izz="0.01"/>
      <!-- this inertia is made up for now. -->
    </inertial>
  </link>
  <!-- attach optical frame to the camera link -->
  <joint name="narrow_stereo_optical_frame_joint" type="fixed">
    <origin rpy="-1.5707963267948966 0.0 -1.5707963267948966" xyz="0 0 0"/>
    <!-- rotate frame from x-forward to z-forward camera coords -->
    <parent link="narrow_stereo_link"/>
    <child link="narrow_stereo_optical_frame"/>
  </joint>
  <!-- optical frame for the stereo camera, with z-forward notation, this is the frame stereo camera images users should refer to -->
  <link name="narrow_stereo_optical_frame" type="camera"/>
  <joint name="narrow_stereo_l_stereo_camera_frame_joint" type="fixed">
    <origin rpy="0 0 0" xyz="0 0 0"/>
    <parent link="narrow_stereo_link"/>
    <child link="narrow_stereo_l_stereo_camera_frame"/>
  </joint>
  <link name="narrow_stereo_l_stereo_camera_frame">
    <inertial>
      <mass value="0.01"/>
      <origin xyz="0 0 0"/>
      <inertia ixx="0.001" ixy="0.0" ixz="0.0" iyy="0.001" iyz="0.0" izz="0.001"/>
    </inertial>
  </link>
  <joint name="narrow_stereo_l_stereo_camera_optical_frame_joint" type="fixed">
    <origin rpy="-1.5707963267948966 0.0 -1.5707963267948966" xyz="0 0 0"/>
    <parent link="narrow_stereo_l_stereo_camera_frame"/>
    <child link="narrow_stereo_l_stereo_camera_optical_frame"/>
  </joint>
  <link name="narrow_stereo_l_stereo_camera_optical_frame"/>
  <gazebo reference="narrow_stereo_l_stereo_camera_frame">
    <sensor name="narrow_stereo_l_stereo_camera_sensor" type="camera">
      <always_on>true</always_on>
      <update_rate>25.0</update_rate>
      <camera>
        <horizontal_fov>0.7853981633974483</horizontal_fov>
        <image>
          <format>L8</format>
          <width>640</width>
          <height>480</height>
        </image>
        <clip>
          <near>0.1</near>
          <far>100</far>
        </clip>
      </camera>
      <plugin filename="libgazebo_ros_camera.so" name="narrow_stereo_l_stereo_camera_controller">
        <alwaysOn>true</alwaysOn>
        <updateRate>25.0</updateRate>
        <cameraName>narrow_stereo/left</cameraName>
        <imageTopicName>image_raw</imageTopicName>
        <cameraInfoTopicName>camera_info</cameraInfoTopicName>
        <frameName>narrow_stereo_optical_frame</frameName>
        <hackBaseline>0</hackBaseline>
        <CxPrime>320.5</CxPrime>
        <Cx>320.5</Cx>
        <Cy>240.5</Cy>
        <!-- image_width / (2*tan(hfov_radian /2)) -->
        <!-- 320 for wide and 772.55 for narrow stereo camera -->
        <focalLength>772.548518</focalLength>
        <distortionK1>0.0</distortionK1>
        <distortionK2>0.0</distortionK2>
        <distortionK3>0.0</distortionK3>
        <distortionT1>0.0</distortionT1>
        <distortionT2>0.0</distortionT2>
      </plugin>
    </sensor>
    <turnGravityOff>true</turnGravityOff>
    <material>PR2/Blue</material>
  </gazebo>
  <joint name="narrow_stereo_r_stereo_camera_frame_joint" type="fixed">
    <origin rpy="0.0 0.0 0.0" xyz="0.0 -0.09 0.0"/>
    <parent link="narrow_stereo_l_stereo_camera_frame"/>
    <child link="narrow_stereo_r_stereo_camera_frame"/>
  </joint>
  <link name="narrow_stereo_r_stereo_camera_frame">
    <inertial>
      <mass value="0.01"/>
      <origin xyz="0 0 0"/>
      <inertia ixx="0.001" ixy="0.0" ixz="0.0" iyy="0.001" iyz="0.0" izz="0.001"/>
    </inertial>
  </link>
  <joint name="narrow_stereo_r_stereo_camera_optical_frame_joint" type="fixed">
    <origin rpy="-1.5707963267948966 0.0 -1.5707963267948966" xyz="0 0 0"/>
    <parent link="narrow_stereo_r_stereo_camera_frame"/>
    <child link="narrow_stereo_r_stereo_camera_optical_frame"/>
  </joint>
  <link name="narrow_stereo_r_stereo_camera_optical_frame"/>
  <gazebo reference="narrow_stereo_r_stereo_camera_frame">
    <sensor name="narrow_stereo_r_stereo_camera_sensor" type="camera">
      <always_on>true</always_on>
      <update_rate>25.0</update_rate>
      <camera>
        <horizontal_fov>0.7853981633974483</horizontal_fov>
        <image>
          <format>L8</format>
          <width>640</width>
          <height>480</height>
        </image>
        <clip>
          <near>0.1</near>
          <far>100</far>
        </clip>
      </camera>
      <plugin filename="libgazebo_ros_camera.so" name="narrow_stereo_r_stereo_camera_controller">
        <alwaysOn>true</alwaysOn>
        <updateRate>25.0</updateRate>
        <cameraName>narrow_stereo/right</cameraName>
        <imageTopicName>image_raw</imageTopicName>
        <cameraInfoTopicName>camera_info</cameraInfoTopicName>
        <frameName>narrow_stereo_optical_frame</frameName>
        <hackBaseline>0.09</hackBaseline>
        <CxPrime>320.5</CxPrime>
        <Cx>320.5</Cx>
        <Cy>240.5</Cy>
        <!-- image_width / (2*tan(hfov_radian /2)) -->
        <!-- 320 for wide and 772.55 for narrow stereo camera -->
        <focalLength>772.548518</focalLength>
        <distortionK1>0.0</distortionK1>
        <distortionK2>0.0</distortionK2>
        <distortionK3>0.0</distortionK3>
        <distortionT1>0.0</distortionT1>
        <distortionT2>0.0</distortionT2>
      </plugin>
    </sensor>
    <turnGravityOff>true</turnGravityOff>
    <material>PR2/Blue</material>
  </gazebo>
  <gazebo reference="narrow_stereo_link">
    <material value="PR2/Blue"/>
    <turnGravityOff value="true"/>
  </gazebo>
  <gazebo reference="narrow_stereo_optical_frame">
    <material value="Gazebo/White"/>
    <turnGravityOff value="true"/>
  </gazebo>
  <!-- Define link to stereo cameras, set origin relative to that -->
  <gazebo reference="double_stereo_double_stereo_link">
    <material value="PR2/Blue"/>
  </gazebo>
  <gazebo reference="sensor_mount_sensor_link">
    <material value="PR2/Blue"/>
  </gazebo>
  <joint name="projector_wg6802418_frame_joint" type="fixed">
    <origin rpy="0 0 0" xyz="0 0.110 0.0546"/>
    <parent link="head_plate_frame"/>
    <child link="projector_wg6802418_frame"/>
  </joint>
  <link name="projector_wg6802418_frame">
    <inertial>
      <mass value="0.01"/>
      <origin rpy="0 0 0" xyz="0 0 0"/>
      <inertia ixx="0.001" ixy="0.0" ixz="0.0" iyy="0.001" iyz="0.0" izz="0.001"/>
    </inertial>
  </link>
  <joint name="projector_wg6802418_child_frame_joint" type="fixed">
    <origin rpy="0 -1.5707963267948966 0" xyz="0 0 0"/>
    <parent link="projector_wg6802418_frame"/>
    <child link="projector_wg6802418_child_frame"/>
  </joint>
  <link name="projector_wg6802418_child_frame">
    <inertial>
      <mass value="0.01"/>
      <origin rpy="0 0 0" xyz="0 0 0"/>
      <inertia ixx="0.001" ixy="0.0" ixz="0.0" iyy="0.001" iyz="0.0" izz="0.001"/>
    </inertial>
  </link>
  <gazebo reference="projector_wg6802418_child_frame">
    <projector name="projector_wg6802418_projector_wg6802418">
      <pose>0 0 0 0 -1.5707 0</pose>
      <texture>stereo_projection_pattern_high_res_red.png</texture>
      <fov>0.9599310885968813</fov>
      <near_clip>0.1</near_clip>
      <far_clip>10</far_clip>
    </projector>
  </gazebo>
  <gazebo>
    <plugin filename="libgazebo_ros_projector.so" name="projector_wg6802418_controller">
      <projector>projector_wg6802418_child_frame/projector_wg6802418_projector_wg6802418</projector>
      <alwaysOn>true</alwaysOn>
      <updateRate>15.0</updateRate>
      <textureName>stereo_projection_pattern_high_res_red.png</textureName>
      <filterTextureName>stereo_projection_pattern_filter.png</filterTextureName>
      <textureTopicName>projector_wg6802418_controller/image</textureTopicName>
      <projectorTopicName>projector_wg6802418_controller/projector</projectorTopicName>
    </plugin>
  </gazebo>
  <joint name="laser_tilt_mount_joint" type="revolute">
    <axis xyz="0 1 0"/>
    <limit effort="0.65" lower="-0.7854" upper="1.48353" velocity="10.0"/>
    <!-- alpha tested velocity and effort limits -->
    <safety_controller k_position="100" k_velocity="0.05" soft_lower_limit="-0.7353999999999999" soft_upper_limit="1.43353"/>
    <calibration falling="0.0"/>
    <dynamics damping="0.008"/>
    <origin rpy="0 0 0" xyz="0.09893 0 0.227"/>
    <parent link="torso_lift_link"/>
    <child link="laser_tilt_mount_link"/>
  </joint>
  <link name="laser_tilt_mount_link">
    <inertial>
      <mass value="0.591"/>
      <origin rpy="0 0 0" xyz="-0.001136 0.00167 -0.00713"/>
      <inertia ixx="0.001195273" ixy="0.000023087" ixz="0.000037467" iyy="0.001083956" iyz="0.000034906" izz="0.000795014"/>
    </inertial>
    <visual>
      <origin rpy="0 0 0" xyz="0 0 0"/>
      <geometry>
        <mesh filename="package://pr2_description/meshes/tilting_laser_v0/tilting_hokuyo.dae"/>
      </geometry>
      <material name="Red"/>
    </visual>
    <collision>
      <origin rpy="0 0 0" xyz="0 0 0"/>
      <geometry>
        <mesh filename="package://pr2_description/meshes/tilting_laser_v0/tilting_hokuyo_L.stl"/>
      </geometry>
    </collision>
  </link>
  <joint name="laser_tilt_joint" type="fixed">
    <axis xyz="0 1 0"/>
    <origin rpy="0 0 0" xyz="0 0 0.03"/>
    <parent link="laser_tilt_mount_link"/>
    <child link="laser_tilt_link"/>
  </joint>
  <link name="laser_tilt_link" type="laser">
    <inertial>
      <mass value="0.001"/>
      <origin rpy="0 0 0" xyz="0 0 0"/>
      <inertia ixx="0.0001" ixy="0" ixz="0" iyy="0.000001" iyz="0" izz="0.0001"/>
    </inertial>
  </link>
  <gazebo reference="laser_tilt_link">
    <sensor name="laser_tilt" type="ray">
      <always_on>true</always_on>
      <update_rate>40</update_rate>
      <pose>0 0 0 0 0 0</pose>
      <visualize>false</visualize>
      <ray>
        <scan>
          <horizontal>
            <samples>640</samples>
            <resolution>1</resolution>
            <min_angle>-1.3962634</min_angle>
            <max_angle>1.3962634</max_angle>
          </horizontal>
        </scan>
        <range>
          <min>0.08</min>
          <max>10.0</max>
          <resolution>0.01</resolution>
        </range>
      </ray>
      <plugin filename="libgazebo_ros_laser.so" name="gazebo_ros_laser_tilt_controller">
        <gaussianNoise>0.005</gaussianNoise>
        <alwaysOn>true</alwaysOn>
        <updateRate>40</updateRate>
        <topicName>tilt_scan</topicName>
        <frameName>laser_tilt_link</frameName>
        <hokuyoMinIntensity>101</hokuyoMinIntensity>
      </plugin>
    </sensor>
  </gazebo>
  <gazebo reference="laser_tilt_mount_link">
    </gazebo>
  <transmission name="laser_tilt_mount_trans" type="pr2_mechanism_model/SimpleTransmission">
    <actuator name="laser_tilt_mount_motor"/>
    <joint name="laser_tilt_mount_joint"/>
    <mechanicalReduction>-6.05</mechanicalReduction>
  </transmission>
  <!-- Shoulder pan -->
  <joint name="r_shoulder_pan_joint" type="revolute">
    <axis xyz="0 0 1"/>
    <origin rpy="0 0 0" xyz="0.0 -0.188 0.0"/>
    <!-- transform from parent link to this joint frame -->
    <parent link="torso_lift_link"/>
    <child link="r_shoulder_pan_link"/>
    <limit effort="30" lower="-2.2853981633974483" upper="0.7146018366025517" velocity="2.088"/>
    <!-- alpha tested velocity and effort limits -->
    <dynamics damping="10.0"/>
    <safety_controller k_position="100" k_velocity="10" soft_lower_limit="-2.1353981633974484" soft_upper_limit="0.5646018366025517"/>
    <!-- joint angle when the rising or the falling flag is activated on PR2 -->
    <calibration rising="-0.7853981633974483"/>
  </joint>
  <link name="r_shoulder_pan_link">
    <inertial>
      <mass value="25.799322"/>
      <origin rpy="0 0 0" xyz="-0.001201 0.024513 -0.098231"/>
      <inertia ixx="0.866179142480" ixy="-0.06086507933" ixz="-0.12118061183" iyy="0.87421714893" iyz="-0.05886609911" izz="0.27353821674"/>
    </inertial>
    <visual>
      <origin rpy="0 0 0" xyz="0 0 0"/>
      <geometry>
        <mesh filename="package://pr2_description/meshes/shoulder_v0/shoulder_pan.dae"/>
      </geometry>
      <material name="Blue"/>
    </visual>
    <collision>
      <origin rpy="0 0 0" xyz="0.0 0 0.0"/>
      <geometry>
        <mesh filename="package://pr2_description/meshes/shoulder_v0/shoulder_pan.stl"/>
      </geometry>
    </collision>
  </link>
  <!-- Shoulder lift -->
  <joint name="r_shoulder_lift_joint" type="revolute">
    <axis xyz="0 1 0"/>
    <!-- Limits updated from Function's CAD values as of 2009_02_24 (link_data.xls) -->
    <limit effort="30" lower="-0.5236" upper="1.3963" velocity="2.082"/>
    <!-- alpha tested velocity and effort limits -->
    <safety_controller k_position="100" k_velocity="10" soft_lower_limit="-0.3535999999999999" soft_upper_limit="1.2963"/>
    <calibration falling="0.0"/>
    <dynamics damping="10.0"/>
    <origin rpy="0 0 0" xyz="0.1 0 0"/>
    <parent link="r_shoulder_pan_link"/>
    <child link="r_shoulder_lift_link"/>
  </joint>
  <link name="r_shoulder_lift_link">
    <inertial>
      <mass value="2.74988"/>
      <origin rpy="0 0 0" xyz="0.02195 -0.02664 -0.03127"/>
      <inertia ixx="0.02105584615" ixy="0.00496704022" ixz="-0.00194808955" iyy="0.02127223737" iyz="0.00110425490" izz="0.01975753814"/>
    </inertial>
    <visual>
      <origin rpy="0 0 0" xyz="0 0 0"/>
      <geometry>
        <mesh filename="package://pr2_description/meshes/shoulder_v0/shoulder_lift.dae"/>
      </geometry>
      <material name="Grey"/>
    </visual>
    <collision>
      <origin rpy="0 0 0" xyz="0 0 0"/>
      <geometry>
        <mesh filename="package://pr2_description/meshes/shoulder_v0/shoulder_lift.stl"/>
      </geometry>
    </collision>
  </link>
  <joint name="r_upper_arm_roll_joint" type="revolute">
    <axis xyz="1 0 0"/>
    <origin rpy="0 0 0" xyz="0 0 0"/>
    <parent link="r_shoulder_lift_link"/>
    <child link="r_upper_arm_roll_link"/>
    <limit effort="30" lower="-3.9000000000000004" upper="0.8" velocity="3.27"/>
    <!-- alpha tested velocity and effort limits -->
    <safety_controller k_position="100" k_velocity="2" soft_lower_limit="-3.7500000000000004" soft_upper_limit="0.65"/>
    <calibration rising="-1.5707963267948966"/>
    <dynamics damping="0.1"/>
  </joint>
  <link name="r_upper_arm_roll_link">
    <inertial>
      <!-- dummy mass, to be removed -->
      <mass value="0.1"/>
      <origin rpy="0 0 0" xyz="0.0 0 0"/>
      <inertia ixx="0.01" ixy="0.00" ixz="0.00" iyy="0.01" iyz="0.00" izz="0.01"/>
    </inertial>
    <visual>
      <!-- TODO: This component doesn't actually have a mesh -->
      <origin rpy="0 0 0" xyz="0 0 0"/>
      <geometry>
        <mesh filename="package://pr2_description/meshes/shoulder_v0/upper_arm_roll.stl"/>
      </geometry>
      <material name="RollLinks"/>
    </visual>
    <collision>
      <origin rpy="0 0 0" xyz="0 0 0"/>
      <geometry>
        <mesh filename="package://pr2_description/meshes/shoulder_v0/upper_arm_roll_L.stl"/>
      </geometry>
    </collision>
  </link>
  <gazebo reference="r_upper_arm_roll_link">
    <material value="PR2/RollLinks"/>
    <turnGravityOff>true</turnGravityOff>
  </gazebo>
  <gazebo reference="r_upper_arm_roll_joint">
    <stopKd value="1.0"/>
    <stopKp value="1000000.0"/>
    <fudgeFactor value="0.5"/>
  </gazebo>
  <!-- Upperarm roll: internal fixed attchment point for upper arm -->
  <transmission name="r_upper_arm_roll_trans" type="pr2_mechanism_model/SimpleTransmission">
    <actuator name="r_upper_arm_roll_motor"/>
    <joint name="r_upper_arm_roll_joint"/>
    <mechanicalReduction>32.65251114989334</mechanicalReduction>
  </transmission>
  <!-- Shoulder pan -->
  <gazebo reference="r_shoulder_pan_link">
    <turnGravityOff>true</turnGravityOff>
  </gazebo>
  <gazebo reference="r_shoulder_pan_joint">
    <stopKd value="1.0"/>
    <stopKp value="1000000.0"/>
  </gazebo>
  <!-- Shoulder lift -->
  <gazebo reference="r_shoulder_lift_link">
    <turnGravityOff>true</turnGravityOff>
  </gazebo>
  <gazebo reference="r_shoulder_lift_joint">
    <stopKd value="1.0"/>
    <stopKp value="1000000.0"/>
  </gazebo>
  <!-- Shoulder pan -->
  <transmission name="r_shoulder_pan_trans" type="pr2_mechanism_model/SimpleTransmission">
    <joint name="r_shoulder_pan_joint"/>
    <actuator name="r_shoulder_pan_motor"/>
    <mechanicalReduction>63.15524529765367</mechanicalReduction>
    <compensator k_belt="4000.0" kd_motor="15.0" lambda_combined="0.0" lambda_joint="40.0" lambda_motor="40.0" mass_motor="0.05"/>
  </transmission>
  <!-- Shoulder lift -->
  <transmission name="r_shoulder_lift_trans" type="pr2_mechanism_model/SimpleTransmission">
    <joint name="r_shoulder_lift_joint"/>
    <actuator name="r_shoulder_lift_motor"/>
    <mechanicalReduction>61.89482257126235</mechanicalReduction>
    <compensator k_belt="4000.0" kd_motor="10.0" lambda_combined="0.0" lambda_joint="60.0" lambda_motor="60.0" mass_motor="0.05"/>
  </transmission>
  <joint name="r_upper_arm_joint" type="fixed">
    <origin rpy="0 0 0" xyz="0 0 0"/>
    <parent link="r_upper_arm_roll_link"/>
    <child link="r_upper_arm_link"/>
  </joint>
  <link name="r_upper_arm_link">
    <inertial>
      <!-- NOTE:reflect==-1 for right side, reflect==1 for the left side -->
      <mass value="6.01769"/>
      <origin xyz="0.21398 -0.01621 -0.0002"/>
      <inertia ixx="0.01537748957" ixy="0.00375711247" ixz="-0.00070852914" iyy="0.0747367044" iyz="-0.0001793645" izz="0.07608763307"/>
    </inertial>
    <visual>
      <origin rpy="0 0 0" xyz="0 0 0"/>
      <geometry>
        <mesh filename="package://pr2_description/meshes/upper_arm_v0/upper_arm.dae"/>
      </geometry>
      <material name="Green"/>
    </visual>
    <collision>
      <origin rpy="0 0 0" xyz="0 0 0"/>
      <geometry>
        <mesh filename="package://pr2_description/meshes/upper_arm_v0/upper_arm.stl"/>
      </geometry>
    </collision>
  </link>
  <gazebo reference="r_upper_arm_link">
    <turnGravityOff>true</turnGravityOff>
  </gazebo>
  <!-- Has upperarm link -->
  <!-- No transmission, since this a fixed joint w/o actuator -->
  <!-- forearm_roll_link is a fictitious link internal to elbow_flex_link, provides an attachment point for the actual forearm -->
  <joint name="r_forearm_roll_joint" type="continuous">
    <axis xyz="1 0 0"/>
    <limit effort="30" velocity="3.5999999999999996"/>
    <!-- alpha tested velocity and effort limits -->
    <safety_controller k_velocity="1"/>
    <calibration rising="0.0"/>
    <dynamics damping="0.1"/>
    <origin rpy="0 0 0" xyz="0 0 0"/>
    <parent link="r_elbow_flex_link"/>
    <child link="r_forearm_roll_link"/>
  </joint>
  <!-- TODO: inertial tag should be optional -->
  <link name="r_forearm_roll_link">
    <inertial>
      <!-- dummy masses, to be removed -->
      <mass value="0.1"/>
      <origin xyz="0 0 0"/>
      <inertia ixx="0.01" ixy="0.00" ixz="0.00" iyy="0.01" iyz="0.00" izz="0.01"/>
    </inertial>
    <visual>
      <origin rpy="0 0 0" xyz="0 0 0"/>
      <geometry>
        <mesh filename="package://pr2_description/meshes/upper_arm_v0/forearm_roll.stl"/>
      </geometry>
      <material name="RollLinks"/>
    </visual>
    <!-- TODO: collision tag should be optional -->
    <collision>
      <origin rpy="0 0 0" xyz="0 0 0"/>
      <geometry>
        <mesh filename="package://pr2_description/meshes/upper_arm_v0/forearm_roll_L.stl"/>
      </geometry>
    </collision>
  </link>
  <gazebo reference="r_forearm_roll_link">
    <material value="PR2/RollLinks"/>
    <turnGravityOff>true</turnGravityOff>
  </gazebo>
  <gazebo reference="r_forearm_roll_joint">
    <fudgeFactor value="0.5"/>
  </gazebo>
  <transmission name="r_forearm_roll_trans" type="pr2_mechanism_model/SimpleTransmission">
    <actuator name="r_forearm_roll_motor"/>
    <joint name="r_forearm_roll_joint"/>
    <mechanicalReduction>-90.51428571428572</mechanicalReduction>
  </transmission>
  <!-- Elbow flex -->
  <joint name="r_elbow_flex_joint" type="revolute">
    <axis xyz="0 1 0"/>
    <!-- Note: Overtravel limits are 140, -7 degrees instead of 133, 0 -->
    <limit effort="30" lower="-2.3213" upper="0.00" velocity="3.3"/>
    <!-- alpha tested velocity and effort limits -->
    <safety_controller k_position="100" k_velocity="3" soft_lower_limit="-2.1212999999999997" soft_upper_limit="-0.15"/>
    <calibration falling="-1.1606"/>
    <dynamics damping="1.0"/>
    <origin rpy="0 0 0" xyz="0.4 0 0"/>
    <parent link="r_upper_arm_link"/>
    <child link="r_elbow_flex_link"/>
  </joint>
  <link name="r_elbow_flex_link">
    <inertial>
      <mass value="1.90327"/>
      <origin xyz="0.01014 0.00032 -0.01211"/>
      <inertia ixx="0.00346541989" ixy="0.00004066825" ixz="0.00043171614" iyy="0.00441606455" iyz="-0.00003968914" izz="0.00359156824"/>
    </inertial>
    <visual>
      <origin rpy="0 0 0" xyz="0 0 0"/>
      <geometry>
        <mesh filename="package://pr2_description/meshes/upper_arm_v0/elbow_flex.dae"/>
      </geometry>
      <material name="Grey"/>
    </visual>
    <collision>
      <origin rpy="0 0 0" xyz="0 0 0"/>
      <geometry>
        <mesh filename="package://pr2_description/meshes/upper_arm_v0/elbow_flex.stl"/>
      </geometry>
    </collision>
  </link>
  <!-- testing initial joint position, to be parsed at urdf2gazebo parse time ->
    <gazebo reference="${side}_elbow_flex_joint">
      <initial_joint_position>-1.0</initial_joint_position>
    </gazebo>
    -->
  <gazebo reference="r_elbow_flex_link">
    <turnGravityOff>true</turnGravityOff>
  </gazebo>
  <gazebo reference="r_elbow_flex_joint">
    <stopKd value="1.0"/>
    <stopKp value="1000000.0"/>
  </gazebo>
  <!-- Elbow flex -->
  <transmission name="r_elbow_flex_trans" type="pr2_mechanism_model/SimpleTransmission">
    <actuator name="r_elbow_flex_motor"/>
    <joint name="r_elbow_flex_joint"/>
    <mechanicalReduction>-36.1674520069808</mechanicalReduction>
  </transmission>
  <joint name="r_forearm_joint" type="fixed">
    <origin rpy="0 0 0" xyz="0 0 0"/>
    <!-- transform from parent link to this joint frame -->
    <parent link="r_forearm_roll_link"/>
    <child link="r_forearm_link"/>
  </joint>
  <link name="r_forearm_link">
    <inertial>
      <mass value="2.57968"/>
      <origin xyz="0.18791 -0.00017 -0.00912"/>
      <inertia ixx="0.00364857222" ixy="0.00005215877" ixz="0.00071534842" iyy="0.01507736897" iyz="-0.00001310770" izz="0.01659310749"/>
    </inertial>
    <visual>
      <origin rpy="0 0 0" xyz="0 0 0"/>
      <geometry>
        <mesh filename="package://pr2_description/meshes/forearm_v0/forearm.dae"/>
      </geometry>
      <material name="Grey"/>
    </visual>
    <collision>
      <origin rpy="0 0 0" xyz="0 0 0"/>
      <geometry>
        <mesh filename="package://pr2_description/meshes/forearm_v0/forearm.stl"/>
      </geometry>
    </collision>
  </link>
  <!-- Wrist flex -->
  <joint name="r_wrist_flex_joint" type="revolute">
    <axis xyz="0 1 0"/>
    <limit effort="10" lower="-2.18" upper="0.0" velocity="3.078"/>
    <!-- alpha tested velocity and effort limits -->
    <safety_controller k_position="20" k_velocity="4" soft_lower_limit="-2.0" soft_upper_limit="-0.1"/>
    <dynamics damping="0.1"/>
    <calibration falling="-0.5410521"/>
    <origin rpy="0 0 0" xyz="0.321 0 0"/>
    <parent link="r_forearm_link"/>
    <child link="r_wrist_flex_link"/>
  </joint>
  <link name="r_wrist_flex_link">
    <inertial>
      <mass value="0.61402"/>
      <origin xyz="-0.00157 0.0 -0.00075"/>
      <inertia ixx="0.00065165722" ixy="0.00000028864" ixz="0.00000303477" iyy="0.00019824443" iyz="-0.00000022645" izz="0.00064450498"/>
    </inertial>
    <visual>
      <origin rpy="0 0 0" xyz="0 0 0"/>
      <geometry>
        <mesh filename="package://pr2_description/meshes/forearm_v0/wrist_flex.dae"/>
      </geometry>
      <material name="Grey"/>
    </visual>
    <collision>
      <origin rpy="0 0 0" xyz="0 0 0"/>
      <geometry>
        <mesh filename="package://pr2_description/meshes/forearm_v0/wrist_flex.stl"/>
      </geometry>
    </collision>
  </link>
  <!-- Wrist roll -->
  <joint name="r_wrist_roll_joint" type="continuous">
    <axis xyz="1 0 0"/>
    <limit effort="10" velocity="3.5999999999999996"/>
    <!-- alpha tested velocity and effort limits -->
    <safety_controller k_velocity="2"/>
    <dynamics damping="0.1"/>
    <calibration rising="-1.5707963267948966"/>
    <origin rpy="0 0 0" xyz="0 0 0"/>
    <parent link="r_wrist_flex_link"/>
    <child link="r_wrist_roll_link"/>
  </joint>
  <link name="r_wrist_roll_link">
    <inertial>
      <!-- dummy masses, to be removed.  wrist roll masses are on "gripper_palm" -->
      <mass value="0.1"/>
      <origin xyz="0 0 0"/>
      <inertia ixx="0.01" ixy="0" ixz="0" iyy="0.01" iyz="0" izz="0.01"/>
    </inertial>
    <visual>
      <origin rpy="0 0 0" xyz="0 0 0"/>
      <geometry>
        <mesh filename="package://pr2_description/meshes/forearm_v0/wrist_roll.stl"/>
      </geometry>
      <material name="RollLinks"/>
    </visual>
    <collision>
      <origin rpy="0 0 0" xyz="0 0 0"/>
      <geometry>
        <mesh filename="package://pr2_description/meshes/forearm_v0/wrist_roll_L.stl"/>
      </geometry>
    </collision>
  </link>
  <gazebo reference="r_forearm_link">
    <turnGravityOff>true</turnGravityOff>
  </gazebo>
  <!-- Wrist flex -->
  <gazebo reference="r_wrist_flex_link">
    <turnGravityOff>true</turnGravityOff>
  </gazebo>
  <gazebo reference="r_wrist_flex_joint">
    <stopKd value="1.0"/>
    <stopKp value="1000000.0"/>
  </gazebo>
  <!-- Wrist roll -->
  <gazebo reference="r_wrist_roll_link">
    <turnGravityOff>true</turnGravityOff>
    <material value="PR2/RollLinks"/>
  </gazebo>
  <gazebo reference="r_wrist_roll_joint">
    <fudgeFactor value="0.5"/>
  </gazebo>
  <!-- <xacro:pr2_forearm_transmission_v0 side="${side}" /> -->
  <joint name="r_gripper_palm_joint" type="fixed">
    <origin rpy="0 0 0" xyz="0 0 0"/>
    <parent link="r_wrist_roll_link"/>
    <child link="r_gripper_palm_link"/>
  </joint>
  <link name="r_gripper_palm_link">
    <inertial>
      <mass value="0.58007"/>
      <origin rpy="0 0 0" xyz="0.06623 0.00053 -0.00119"/>
      <inertia ixx="0.00035223921" ixy="-0.00001580476" ixz="-0.00000091750" iyy="0.00067741312" iyz="-0.00000059554" izz="0.00086563316"/>
    </inertial>
    <visual>
      <origin rpy="0 0 0" xyz="0 0 0"/>
      <geometry>
        <mesh filename="package://pr2_description/meshes/gripper_v0/gripper_palm.dae"/>
      </geometry>
      <material name="Red"/>
    </visual>
    <collision>
      <origin rpy="0 0 0" xyz="0 0 0"/>
      <geometry>
        <mesh filename="package://pr2_description/meshes/gripper_v0/gripper_palm.stl"/>
      </geometry>
    </collision>
  </link>
  <joint name="r_gripper_led_joint" type="fixed">
    <!--  Need to check if we need a positive or negative Z term -->
    <origin xyz="0.0513 0.0 .0244"/>
    <parent link="r_gripper_palm_link"/>
    <child link="r_gripper_led_frame"/>
  </joint>
  <link name="r_gripper_led_frame"/>
  <joint name="r_gripper_motor_accelerometer_joint" type="fixed">
    <origin rpy="0 0 0" xyz="0 0 0"/>
    <parent link="r_gripper_palm_link"/>
    <child link="r_gripper_motor_accelerometer_link"/>
  </joint>
  <link name="r_gripper_motor_accelerometer_link">
    <inertial>
      <mass value="0.001"/>
      <origin rpy="0 0 0" xyz="0 0 0"/>
      <inertia ixx="0.001" ixy="0.0" ixz="0.0" iyy="0.001" iyz="0.0" izz="0.001"/>
    </inertial>
    <visual>
      <origin rpy="0 0 0" xyz="0 0 0"/>
      <geometry>
        <box size="0.001 0.001 0.001"/>
      </geometry>
    </visual>
    <collision>
      <origin rpy="0 0 0" xyz="0 0 0"/>
      <geometry>
        <box size="0.001 0.001 0.001"/>
      </geometry>
    </collision>
  </link>
  <joint name="r_gripper_tool_joint" type="fixed">
    <origin rpy="0 0 0" xyz="0.18 0 0"/>
    <parent link="r_gripper_palm_link"/>
    <child link="r_gripper_tool_frame"/>
  </joint>
  <link name="r_gripper_tool_frame"/>
  <!-- actuated motor screw joint -->
  <link name="r_gripper_motor_slider_link">
    <inertial>
      <mass value="0.01"/>
      <origin rpy="0 0 0" xyz="0 0 0"/>
      <inertia ixx="0.001" ixy="0.0" ixz="0.0" iyy="0.001" iyz="0.0" izz="0.001"/>
    </inertial>
    <!-- for debugging only
      <visual>
        <origin xyz="0 0 0" rpy="1.5708 0 0" />
        <geometry>
          <cylinder length="0.002" radius="0.025"/>
        </geometry>
      </visual>
      <collision>
        <origin xyz="0 0 0" rpy="1.5708 0 0" />
        <geometry>
          <cylinder length="0.002" radius="0.025"/>
        </geometry>
      </collision>
      -->
  </link>
  <joint name="r_gripper_motor_slider_joint" type="prismatic">
    <origin rpy="0 0 0" xyz="0.16828 0 0"/>
    <axis xyz="1 0 0"/>
    <parent link="r_gripper_palm_link"/>
    <child link="r_gripper_motor_slider_link"/>
    <limit effort="1000.0" lower="-0.1" upper="0.1" velocity="0.2"/>
  </joint>
  <link name="r_gripper_motor_screw_link">
    <inertial>
      <mass value="0.01"/>
      <origin rpy="0 0 0" xyz="0 0 0"/>
      <inertia ixx="0.0001" ixy="0.0" ixz="0.0" iyy="0.0001" iyz="0.0" izz="0.0001"/>
    </inertial>
    <!-- for debugging only
      <visual>
        <origin xyz="0 0 0" rpy="0 0 0" />
        <geometry>
          <box size="0.05 0.001 0.05" />
        </geometry>
      </visual>
      <collision>
        <origin xyz="0 0 0" rpy="0 0 0" />
        <geometry>
          <box size="0.05 0.001 0.05" />
        </geometry>
      </collision>
      -->
  </link>
  <joint name="r_gripper_motor_screw_joint" type="continuous">
    <origin rpy="0 0 0" xyz="0.0 0 0"/>
    <axis xyz="0 1 0"/>
    <parent link="r_gripper_motor_slider_link"/>
    <child link="r_gripper_motor_screw_link"/>
    <dynamics damping="0.0001"/>
  </joint>
  <!-- Finger proximal digit -->
  <joint name="r_gripper_l_finger_joint" type="revolute">
    <axis xyz="0 0 1"/>
    <!-- limits on passive finger and finger top joints without
         transmission are not enforced by safety controllers.
         The lower/upper limits and are enforced in PR2 simulation and
         effort and velocity limits are ignored. This is also needed because
         these joints are declared revolute rather than continuous.-->
    <limit effort="1000.0" lower="0.0" upper="0.548" velocity="0.5"/>
    <dynamics damping="0.02"/>
    <origin rpy="0 0 0" xyz="0.07691 0.01 0"/>
    <parent link="r_gripper_palm_link"/>
    <child link="r_gripper_l_finger_link"/>
  </joint>
  <link name="r_gripper_l_finger_link">
    <inertial>
      <mass value="0.17126"/>
      <origin rpy="0 0 0" xyz="0.03598 0.01730 -0.00164"/>
      <inertia ixx="0.00007756198" ixy="0.00000149095" ixz="-0.00000983385" iyy="0.00019708305" iyz="-0.00000306125" izz="0.00018105446"/>
    </inertial>
    <visual>
      <origin rpy="0 0 0" xyz="0 0 0"/>
      <geometry>
        <mesh filename="package://pr2_description/meshes/gripper_v0/l_finger.dae"/>
      </geometry>
      <material name="Grey"/>
    </visual>
    <collision>
      <origin rpy="0 0 0" xyz="0 0 0"/>
      <geometry>
        <mesh filename="package://pr2_description/meshes/gripper_v0/l_finger.stl"/>
      </geometry>
    </collision>
  </link>
  <!-- Finger proximal digit -->
  <joint name="r_gripper_r_finger_joint" type="revolute">
    <axis xyz="0 0 -1"/>
    <origin rpy="0 0 0" xyz="0.07691 -0.01 0"/>
    <!-- limits on passive finger and finger top joints without
         transmission are not enforced by safety controllers.
         The lower/upper limits and are enforced in PR2 simulation and
         effort and velocity limits are ignored. This is also needed because
         these joints are declared revolute rather than continuous.-->
    <limit effort="1000.0" lower="0.0" upper="0.548" velocity="0.5"/>
    <dynamics damping="0.02"/>
    <mimic joint="r_gripper_l_finger_joint" multiplier="1" offset="0"/>
    <parent link="r_gripper_palm_link"/>
    <child link="r_gripper_r_finger_link"/>
  </joint>
  <link name="r_gripper_r_finger_link">
    <inertial>
      <mass value="0.17389"/>
      <origin rpy="0 0 0" xyz="0.03576 -0.01736 -0.00095"/>
      <inertia ixx="0.00007738410" ixy="-0.00000209309" ixz="-0.00000836228" iyy="0.00019847383" iyz="0.00000246110" izz="0.00018106988"/>
    </inertial>
    <visual>
      <origin rpy="3.141592653589793 0 0" xyz="0 0 0"/>
      <geometry>
        <mesh filename="package://pr2_description/meshes/gripper_v0/l_finger.dae"/>
      </geometry>
      <material name="Grey"/>
    </visual>
    <collision>
      <origin rpy="3.141592653589793 0 0" xyz="0 0 0"/>
      <geometry>
        <mesh filename="package://pr2_description/meshes/gripper_v0/l_finger.stl"/>
      </geometry>
    </collision>
  </link>
  <!-- Finger tip -->
  <joint name="r_gripper_l_finger_tip_joint" type="revolute">
    <axis xyz="0 0 -1"/>
    <origin rpy="0 0 0" xyz="0.09137 0.00495 0"/>
    <!-- limits on passive finger and finger top joints without
         transmission are not enforced by safety controllers.
         The lower/upper limits and are enforced in PR2 simulation and
         effort and velocity limits are ignored. This is also needed because
         these joints are declared revolute rather than continuous.-->
    <limit effort="1000.0" lower="0.0" upper="0.548" velocity="0.5"/>
    <dynamics damping="0.001"/>
    <mimic joint="r_gripper_l_finger_joint" multiplier="1" offset="0"/>
    <parent link="r_gripper_l_finger_link"/>
    <child link="r_gripper_l_finger_tip_link"/>
  </joint>
  <link name="r_gripper_l_finger_tip_link">
    <inertial>
      <mass value="0.04419"/>
      <origin rpy="0 0 0" xyz="0.00423 0.00284 0.0"/>
      <inertia ixx="0.00000837047" ixy="0.00000583632" ixz="0.0" iyy="0.00000987067" iyz="0.0" izz="0.00001541768"/>
    </inertial>
    <visual>
      <origin rpy="0 0 0" xyz="0 0 0"/>
      <geometry>
        <mesh filename="package://pr2_description/meshes/gripper_v0/l_finger_tip.dae"/>
      </geometry>
      <material name="Green"/>
    </visual>
    <collision>
      <origin rpy="0 0 0" xyz="0 0 0"/>
      <geometry>
        <mesh filename="package://pr2_description/meshes/gripper_v0/l_finger_tip.stl"/>
      </geometry>
    </collision>
  </link>
  <!-- Finger tip -->
  <joint name="r_gripper_r_finger_tip_joint" type="revolute">
    <axis xyz="0 0 1"/>
    <origin rpy="0 0 0" xyz="0.09137 -0.00495 0"/>
    <!-- limits on passive finger and finger top joints without
         transmission are not enforced by safety controllers.
         The lower/upper limits and are enforced in PR2 simulation and
         effort and velocity limits are ignored. This is also needed because
         these joints are declared revolute rather than continuous.-->
    <limit effort="1000.0" lower="0.0" upper="0.548" velocity="0.5"/>
    <dynamics damping="0.001"/>
    <mimic joint="r_gripper_l_finger_joint" multiplier="1" offset="0"/>
    <parent link="r_gripper_r_finger_link"/>
    <child link="r_gripper_r_finger_tip_link"/>
  </joint>
  <link name="r_gripper_r_finger_tip_link">
    <inertial>
      <mass value="0.04419"/>
      <origin rpy="0 0 0" xyz="0.00423 -0.00284 0.0"/>
      <inertia ixx="0.00000837047" ixy="-0.00000583632" ixz="0.0" iyy="0.00000987067" iyz="0.0" izz="0.00001541768"/>
    </inertial>
    <visual>
      <origin rpy="3.141592653589793 0 0" xyz="0 0 0"/>
      <geometry>
        <mesh filename="package://pr2_description/meshes/gripper_v0/l_finger_tip.dae"/>
      </geometry>
      <material name="Green"/>
    </visual>
    <collision>
      <origin rpy="3.141592653589793 0 0" xyz="0 0 0"/>
      <geometry>
        <mesh filename="package://pr2_description/meshes/gripper_v0/l_finger_tip.stl"/>
      </geometry>
    </collision>
  </link>
  <!-- Finger proximal digit -->
  <gazebo reference="r_gripper_l_finger_link">
    <turnGravityOff>true</turnGravityOff>
    <mu1 value="500.0"/>
    <mu2 value="500.0"/>
    <kp value="1000000.0"/>
    <kd value="1.0"/>
    <!-- for "${prefix}_l_finger_joint"-->
  </gazebo>
  <gazebo reference="r_gripper_l_finger_joint">
    <stopKd value="1.0"/>
    <stopKp value="10000000.0"/>
    <fudgeFactor value="1.0"/>
    <provideFeedback value="true"/>
  </gazebo>
  <!-- Finger proximal digit -->
  <gazebo reference="r_gripper_r_finger_link">
    <turnGravityOff>true</turnGravityOff>
    <mu1 value="500.0"/>
    <mu2 value="500.0"/>
    <kp value="1000000.0"/>
    <kd value="1.0"/>
  </gazebo>
  <gazebo reference="r_gripper_r_finger_joint">
    <stopKd value="1.0"/>
    <stopKp value="10000000.0"/>
    <fudgeFactor value="1.0"/>
    <provideFeedback value="true"/>
  </gazebo>
  <!-- Finger tip -->
  <gazebo reference="r_gripper_l_finger_tip_link">
    <turnGravityOff>true</turnGravityOff>
    <selfCollide>false</selfCollide>
    <sensor name="r_gripper_l_finger_tip_contact_sensor" type="contact">
      <update_rate>100.0</update_rate>
      <contact>
        <collision>r_gripper_l_finger_tip_link_collision</collision>
      </contact>
      <plugin filename="libgazebo_ros_bumper.so" name="r_gripper_l_finger_tip_gazebo_ros_bumper_controller">
        <alwaysOn>true</alwaysOn>
        <frameName>r_gripper_l_finger_tip_link</frameName>
        <updateRate>100.0</updateRate>
        <bumperTopicName>r_gripper_l_finger_tip_bumper</bumperTopicName>
      </plugin>
    </sensor>
    <mu1 value="500.0"/>
    <mu2 value="500.0"/>
    <kp value="10000000.0"/>
    <kd value="1.0"/>
  </gazebo>
  <gazebo reference="r_gripper_l_finger_tip_joint">
    <stopKd value="1.0"/>
    <stopKp value="10000000.0"/>
    <fudgeFactor value="1.0"/>
    <provideFeedback value="true"/>
  </gazebo>
  <!-- Finger tip -->
  <gazebo reference="r_gripper_r_finger_tip_link">
    <turnGravityOff>true</turnGravityOff>
    <selfCollide>false</selfCollide>
    <sensor name="r_gripper_r_finger_tip_contact_sensor" type="contact">
      <update_rate>100.0</update_rate>
      <contact>
        <collision>r_gripper_r_finger_tip_link_collision</collision>
      </contact>
      <plugin filename="libgazebo_ros_bumper.so" name="r_gripper_r_finger_tip_gazebo_ros_bumper_controller">
        <alwaysOn>true</alwaysOn>
        <frameName>r_gripper_r_finger_tip_link</frameName>
        <updateRate>100.0</updateRate>
        <bumperTopicName>r_gripper_r_finger_tip_bumper</bumperTopicName>
      </plugin>
    </sensor>
    <mu1 value="500.0"/>
    <mu2 value="500.0"/>
    <kp value="10000000.0"/>
    <kd value="1.0"/>
  </gazebo>
  <gazebo>
    <plugin filename="libgazebo_ros_p3d.so" name="p3d_r_gripper_l_finger_controller">
      <alwaysOn>true</alwaysOn>
      <updateRate>100.0</updateRate>
      <bodyName>r_gripper_l_finger_link</bodyName>
      <topicName>r_gripper_l_finger_pose_ground_truth</topicName>
      <gaussianNoise>0.0</gaussianNoise>
      <frameName>base_link</frameName>
    </plugin>
    <plugin filename="libgazebo_ros_f3d.so" name="f3d_r_gripper_l_finger_controller">
      <alwaysOn>true</alwaysOn>
      <updateRate>100.0</updateRate>
      <bodyName>r_gripper_l_finger_link</bodyName>
      <topicName>r_gripper_l_finger_force_ground_truth</topicName>
    </plugin>
  </gazebo>
  <gazebo reference="r_gripper_r_finger_tip_joint">
    <stopKd value="1.0"/>
    <stopKp value="10000000.0"/>
    <fudgeFactor value="1.0"/>
    <provideFeedback value="true"/>
  </gazebo>
  <!-- parallel link for simulating gripper constraints -->
  <gazebo>
    <link name="r_gripper_l_parallel_link">
      <inertial>
        <mass>0.17126</mass>
        <inertia>
          <ixx>7.7562e-05</ixx>
          <ixy>1.49095e-06</ixy>
          <ixz>-9.83385e-06</ixz>
          <iyy>0.000197083</iyy>
          <iyz>-3.06125e-06</iyz>
          <izz>0.000181054</izz>
        </inertia>
        <pose>0.03598 0.0173 -0.00164 0 0 0</pose>
      </inertial>
      <pose>0.82991 -0.157 0.790675 0 -0 0</pose>
      <gravity>false</gravity>
    </link>
    <link name="r_gripper_r_parallel_link">
      <inertial>
        <mass>0.17389</mass>
        <inertia>
          <ixx>7.73841e-05</ixx>
          <ixy>-2.09309e-06</ixy>
          <ixz>-8.36228e-06</ixz>
          <iyy>0.000198474</iyy>
          <iyz>2.4611e-06</iyz>
          <izz>0.00018107</izz>
        </inertia>
        <pose>0.03576 -0.01736 -0.00095 0 0 0</pose>
      </inertial>
      <pose>0.82991 -0.219 0.790675 0 0 0</pose>
      <gravity>false</gravity>
    </link>
  </gazebo>
  <gazebo>
    <joint name="r_gripper_r_screw_screw_joint" type="screw">
      <child>r_gripper_motor_screw_link</child>
      <parent>r_gripper_r_finger_tip_link</parent>
      <thread_pitch>-3141.6</thread_pitch>
      <axis>
        <xyz>0 1 0</xyz>
      </axis>
    </joint>
    <joint name="r_gripper_l_screw_screw_joint" type="screw">
      <parent>r_gripper_l_finger_tip_link</parent>
      <child>r_gripper_motor_screw_link</child>
      <thread_pitch>3141.6</thread_pitch>
      <axis>
        <xyz>0 1 0</xyz>
      </axis>
    </joint>
  </gazebo>
  <gazebo>
    <joint name="r_gripper_r_parallel_root_joint" type="revolute">
      <parent>r_gripper_r_parallel_link</parent>
      <child>r_gripper_palm_link</child>
      <axis>
        <xyz>0 0 -1</xyz>
        <dynamics>
          <damping>0.2</damping>
        </dynamics>
      </axis>
      <pose>0.058910000000000004 -0.031 0 0 0 0</pose>
    </joint>
    <joint name="r_gripper_l_parallel_root_joint" type="revolute">
      <parent>r_gripper_l_parallel_link</parent>
      <child>r_gripper_palm_link</child>
      <axis>
        <xyz>0 0 1</xyz>
        <dynamics>
          <damping>0.2</damping>
        </dynamics>
      </axis>
      <pose>0.058910000000000004 0.031 0 0 0 0</pose>
    </joint>
    <joint name="r_gripper_r_parallel_tip_joint" type="revolute">
      <parent>r_gripper_r_parallel_link</parent>
      <child>r_gripper_r_finger_tip_link</child>
      <axis>
        <xyz>0 0 1</xyz>
      </axis>
      <pose>-0.018 -0.021 0 0 0 0</pose>
    </joint>
    <joint name="r_gripper_l_parallel_tip_joint" type="revolute">
      <parent>r_gripper_l_parallel_link</parent>
      <child>r_gripper_l_finger_tip_link</child>
      <axis>
        <xyz>0 0 1</xyz>
      </axis>
      <pose>-0.018 0.021 0 0 0 0</pose>
    </joint>
    <joint name="r_gripper_joint" type="prismatic">
      <parent>r_gripper_r_finger_tip_link</parent>
      <child>r_gripper_l_finger_tip_link</child>
      <axis>
        <xyz>0 1 0</xyz>
      </axis>
    </joint>
  </gazebo>
  <gazebo reference="r_gripper_motor_slider_link">
    <turnGravityOff>true</turnGravityOff>
    <material value="PR2/Red"/>
  </gazebo>
  <gazebo reference="r_gripper_motor_screw_link">
    <turnGravityOff>true</turnGravityOff>
    <material value="PR2/Red"/>
  </gazebo>
  <gazebo reference="r_gripper_l_parallel_link">
    <turnGravityOff>true</turnGravityOff>
    <material value="PR2/Red"/>
  </gazebo>
  <gazebo reference="r_gripper_r_parallel_link">
    <turnGravityOff>true</turnGravityOff>
    <material value="PR2/Red"/>
  </gazebo>
  <!-- fictitous joint that represents the gripper gap -->
  <!-- effort is the linear force at the gripper gap
         velocity limit is the linear velocity limit at the gripper gap
         try and introduce a very stiff spring
         The velocity limits are alpha tested.
         The effort limits are somewhat inflated.
         k_velocity was recently raised from 500.0 to 5000.0.  Tested on beta
    -->
  <joint name="r_gripper_joint" type="prismatic">
    <parent link="r_gripper_r_finger_tip_link"/>
    <child link="r_gripper_l_finger_tip_frame"/>
    <axis xyz="0 1 0"/>
    <dynamics damping="10.0"/>
    <limit effort="1000.0" lower="0.0" upper="0.09" velocity="0.2"/>
    <safety_controller k_position="20.0" k_velocity="5000.0" soft_lower_limit="-0.01" soft_upper_limit="0.088"/>
  </joint>
  <!-- This link is the same as the l_finger_tip_link,
	 but because the urdf does not support graph structures,
	 this link exists twice -->
  <link name="r_gripper_l_finger_tip_frame"/>
  <gazebo reference="r_gripper_palm_link">
    <turnGravityOff>true</turnGravityOff>
  </gazebo>
  <gazebo>
    <plugin filename="libgazebo_ros_p3d.so" name="p3d_r_gripper_palm_controller">
      <alwaysOn>true</alwaysOn>
      <updateRate>100.0</updateRate>
      <bodyName>r_gripper_palm_link</bodyName>
      <topicName>r_gripper_palm_pose_ground_truth</topicName>
      <xyzOffsets>0 0 0</xyzOffsets>
      <rpyOffsets>0 0 0</rpyOffsets>
      <gaussianNoise>0.0</gaussianNoise>
      <frameName>map</frameName>
    </plugin>
    <!-- a formal implementation of grasp hack in gazebo with fixed joint -->
    <gripper name="r_grasp_hack">
      <grasp_check>
        <attach_steps>20</attach_steps>
        <detach_steps>40</detach_steps>
        <min_contact_count>2</min_contact_count>
      </grasp_check>
      <gripper_link>r_gripper_r_finger_tip_link</gripper_link>
      <gripper_link>r_gripper_l_finger_tip_link</gripper_link>
      <palm_link>r_gripper_palm_link</palm_link>
    </gripper>
  </gazebo>
  <!-- <xacro:pr2_gripper_transmission_v0 side="${side}"
        screw_reduction="${screw_reduction}"
        gear_ratio="${gear_ratio}"
        theta0="${theta0}"
        phi0="${phi0}"
        t0="${t0}"
        L0="${L0}"
        h="${h}"
        a="${a}"
        b="${b}"
        r="${r}" /> -->
  <!-- Shoulder pan -->
  <joint name="l_shoulder_pan_joint" type="revolute">
    <axis xyz="0 0 1"/>
    <origin rpy="0 0 0" xyz="0.0 0.188 0.0"/>
    <!-- transform from parent link to this joint frame -->
    <parent link="torso_lift_link"/>
    <child link="l_shoulder_pan_link"/>
    <limit effort="30" lower="-0.7146018366025517" upper="2.2853981633974483" velocity="2.088"/>
    <!-- alpha tested velocity and effort limits -->
    <dynamics damping="10.0"/>
    <safety_controller k_position="100" k_velocity="10" soft_lower_limit="-0.5646018366025517" soft_upper_limit="2.1353981633974484"/>
    <!-- joint angle when the rising or the falling flag is activated on PR2 -->
    <calibration rising="0.7853981633974483"/>
  </joint>
  <link name="l_shoulder_pan_link">
    <inertial>
      <mass value="25.799322"/>
      <origin rpy="0 0 0" xyz="-0.001201 0.024513 -0.098231"/>
      <inertia ixx="0.866179142480" ixy="-0.06086507933" ixz="-0.12118061183" iyy="0.87421714893" iyz="-0.05886609911" izz="0.27353821674"/>
    </inertial>
    <visual>
      <origin rpy="0 0 0" xyz="0 0 0"/>
      <geometry>
        <mesh filename="package://pr2_description/meshes/shoulder_v0/shoulder_pan.dae"/>
      </geometry>
      <material name="Blue"/>
    </visual>
    <collision>
      <origin rpy="0 0 0" xyz="0.0 0 0.0"/>
      <geometry>
        <mesh filename="package://pr2_description/meshes/shoulder_v0/shoulder_pan.stl"/>
      </geometry>
    </collision>
  </link>
  <!-- Shoulder lift -->
  <joint name="l_shoulder_lift_joint" type="revolute">
    <axis xyz="0 1 0"/>
    <!-- Limits updated from Function's CAD values as of 2009_02_24 (link_data.xls) -->
    <limit effort="30" lower="-0.5236" upper="1.3963" velocity="2.082"/>
    <!-- alpha tested velocity and effort limits -->
    <safety_controller k_position="100" k_velocity="10" soft_lower_limit="-0.3535999999999999" soft_upper_limit="1.2963"/>
    <calibration falling="0.0"/>
    <dynamics damping="10.0"/>
    <origin rpy="0 0 0" xyz="0.1 0 0"/>
    <parent link="l_shoulder_pan_link"/>
    <child link="l_shoulder_lift_link"/>
  </joint>
  <link name="l_shoulder_lift_link">
    <inertial>
      <mass value="2.74988"/>
      <origin rpy="0 0 0" xyz="0.02195 -0.02664 -0.03127"/>
      <inertia ixx="0.02105584615" ixy="0.00496704022" ixz="-0.00194808955" iyy="0.02127223737" iyz="0.00110425490" izz="0.01975753814"/>
    </inertial>
    <visual>
      <origin rpy="0 0 0" xyz="0 0 0"/>
      <geometry>
        <mesh filename="package://pr2_description/meshes/shoulder_v0/shoulder_lift.dae"/>
      </geometry>
      <material name="Grey"/>
    </visual>
    <collision>
      <origin rpy="0 0 0" xyz="0 0 0"/>
      <geometry>
        <mesh filename="package://pr2_description/meshes/shoulder_v0/shoulder_lift.stl"/>
      </geometry>
    </collision>
  </link>
  <joint name="l_upper_arm_roll_joint" type="revolute">
    <axis xyz="1 0 0"/>
    <origin rpy="0 0 0" xyz="0 0 0"/>
    <parent link="l_shoulder_lift_link"/>
    <child link="l_upper_arm_roll_link"/>
    <limit effort="30" lower="-0.8" upper="3.9000000000000004" velocity="3.27"/>
    <!-- alpha tested velocity and effort limits -->
    <safety_controller k_position="100" k_velocity="2" soft_lower_limit="-0.65" soft_upper_limit="3.7500000000000004"/>
    <calibration rising="1.5707963267948966"/>
    <dynamics damping="0.1"/>
  </joint>
  <link name="l_upper_arm_roll_link">
    <inertial>
      <!-- dummy mass, to be removed -->
      <mass value="0.1"/>
      <origin rpy="0 0 0" xyz="0.0 0 0"/>
      <inertia ixx="0.01" ixy="0.00" ixz="0.00" iyy="0.01" iyz="0.00" izz="0.01"/>
    </inertial>
    <visual>
      <!-- TODO: This component doesn't actually have a mesh -->
      <origin rpy="0 0 0" xyz="0 0 0"/>
      <geometry>
        <mesh filename="package://pr2_description/meshes/shoulder_v0/upper_arm_roll.stl"/>
      </geometry>
      <material name="RollLinks"/>
    </visual>
    <collision>
      <origin rpy="0 0 0" xyz="0 0 0"/>
      <geometry>
        <mesh filename="package://pr2_description/meshes/shoulder_v0/upper_arm_roll_L.stl"/>
      </geometry>
    </collision>
  </link>
  <gazebo reference="l_upper_arm_roll_link">
    <material value="PR2/RollLinks"/>
    <turnGravityOff>true</turnGravityOff>
  </gazebo>
  <gazebo reference="l_upper_arm_roll_joint">
    <stopKd value="1.0"/>
    <stopKp value="1000000.0"/>
    <fudgeFactor value="0.5"/>
  </gazebo>
  <!-- Upperarm roll: internal fixed attchment point for upper arm -->
  <transmission name="l_upper_arm_roll_trans" type="pr2_mechanism_model/SimpleTransmission">
    <actuator name="l_upper_arm_roll_motor"/>
    <joint name="l_upper_arm_roll_joint"/>
    <mechanicalReduction>32.65251114989334</mechanicalReduction>
  </transmission>
  <!-- Shoulder pan -->
  <gazebo reference="l_shoulder_pan_link">
    <turnGravityOff>true</turnGravityOff>
  </gazebo>
  <gazebo reference="l_shoulder_pan_joint">
    <stopKd value="1.0"/>
    <stopKp value="1000000.0"/>
  </gazebo>
  <!-- Shoulder lift -->
  <gazebo reference="l_shoulder_lift_link">
    <turnGravityOff>true</turnGravityOff>
  </gazebo>
  <gazebo reference="l_shoulder_lift_joint">
    <stopKd value="1.0"/>
    <stopKp value="1000000.0"/>
  </gazebo>
  <!-- Shoulder pan -->
  <transmission name="l_shoulder_pan_trans" type="pr2_mechanism_model/SimpleTransmission">
    <joint name="l_shoulder_pan_joint"/>
    <actuator name="l_shoulder_pan_motor"/>
    <mechanicalReduction>63.15524529765367</mechanicalReduction>
    <compensator k_belt="4000.0" kd_motor="15.0" lambda_combined="0.0" lambda_joint="40.0" lambda_motor="40.0" mass_motor="0.05"/>
  </transmission>
  <!-- Shoulder lift -->
  <transmission name="l_shoulder_lift_trans" type="pr2_mechanism_model/SimpleTransmission">
    <joint name="l_shoulder_lift_joint"/>
    <actuator name="l_shoulder_lift_motor"/>
    <mechanicalReduction>61.89482257126235</mechanicalReduction>
    <compensator k_belt="4000.0" kd_motor="10.0" lambda_combined="0.0" lambda_joint="60.0" lambda_motor="60.0" mass_motor="0.05"/>
  </transmission>
  <joint name="l_upper_arm_joint" type="fixed">
    <origin rpy="0 0 0" xyz="0 0 0"/>
    <parent link="l_upper_arm_roll_link"/>
    <child link="l_upper_arm_link"/>
  </joint>
  <link name="l_upper_arm_link">
    <inertial>
      <!-- NOTE:reflect==-1 for right side, reflect==1 for the left side -->
      <mass value="6.01769"/>
      <origin xyz="0.21405 0.01658 -0.00057"/>
      <inertia ixx="0.01530603856" ixy="-0.00339324862" ixz="0.00060765455" iyy="0.07473694455" iyz="-0.00019953729" izz="0.07601594191"/>
    </inertial>
    <visual>
      <origin rpy="0 0 0" xyz="0 0 0"/>
      <geometry>
        <mesh filename="package://pr2_description/meshes/upper_arm_v0/upper_arm.dae"/>
      </geometry>
      <material name="Green"/>
    </visual>
    <collision>
      <origin rpy="0 0 0" xyz="0 0 0"/>
      <geometry>
        <mesh filename="package://pr2_description/meshes/upper_arm_v0/upper_arm.stl"/>
      </geometry>
    </collision>
  </link>
  <gazebo reference="l_upper_arm_link">
    <turnGravityOff>true</turnGravityOff>
  </gazebo>
  <!-- Has upperarm link -->
  <!-- No transmission, since this a fixed joint w/o actuator -->
  <!-- forearm_roll_link is a fictitious link internal to elbow_flex_link, provides an attachment point for the actual forearm -->
  <joint name="l_forearm_roll_joint" type="continuous">
    <axis xyz="1 0 0"/>
    <limit effort="30" velocity="3.5999999999999996"/>
    <!-- alpha tested velocity and effort limits -->
    <safety_controller k_velocity="1"/>
    <calibration rising="0.0"/>
    <dynamics damping="0.1"/>
    <origin rpy="0 0 0" xyz="0 0 0"/>
    <parent link="l_elbow_flex_link"/>
    <child link="l_forearm_roll_link"/>
  </joint>
  <!-- TODO: inertial tag should be optional -->
  <link name="l_forearm_roll_link">
    <inertial>
      <!-- dummy masses, to be removed -->
      <mass value="0.1"/>
      <origin xyz="0 0 0"/>
      <inertia ixx="0.01" ixy="0.00" ixz="0.00" iyy="0.01" iyz="0.00" izz="0.01"/>
    </inertial>
    <visual>
      <origin rpy="0 0 0" xyz="0 0 0"/>
      <geometry>
        <mesh filename="package://pr2_description/meshes/upper_arm_v0/forearm_roll.stl"/>
      </geometry>
      <material name="RollLinks"/>
    </visual>
    <!-- TODO: collision tag should be optional -->
    <collision>
      <origin rpy="0 0 0" xyz="0 0 0"/>
      <geometry>
        <mesh filename="package://pr2_description/meshes/upper_arm_v0/forearm_roll_L.stl"/>
      </geometry>
    </collision>
  </link>
  <gazebo reference="l_forearm_roll_link">
    <material value="PR2/RollLinks"/>
    <turnGravityOff>true</turnGravityOff>
  </gazebo>
  <gazebo reference="l_forearm_roll_joint">
    <fudgeFactor value="0.5"/>
  </gazebo>
  <transmission name="l_forearm_roll_trans" type="pr2_mechanism_model/SimpleTransmission">
    <actuator name="l_forearm_roll_motor"/>
    <joint name="l_forearm_roll_joint"/>
    <mechanicalReduction>-90.51428571428572</mechanicalReduction>
  </transmission>
  <!-- Elbow flex -->
  <joint name="l_elbow_flex_joint" type="revolute">
    <axis xyz="0 1 0"/>
    <!-- Note: Overtravel limits are 140, -7 degrees instead of 133, 0 -->
    <limit effort="30" lower="-2.3213" upper="0.00" velocity="3.3"/>
    <!-- alpha tested velocity and effort limits -->
    <safety_controller k_position="100" k_velocity="3" soft_lower_limit="-2.1212999999999997" soft_upper_limit="-0.15"/>
    <calibration falling="-1.1606"/>
    <dynamics damping="1.0"/>
    <origin rpy="0 0 0" xyz="0.4 0 0"/>
    <parent link="l_upper_arm_link"/>
    <child link="l_elbow_flex_link"/>
  </joint>
  <link name="l_elbow_flex_link">
    <inertial>
      <mass value="1.90327"/>
      <origin xyz="0.01014 0.00032 -0.01211"/>
      <inertia ixx="0.00346541989" ixy="0.00004066825" ixz="0.00043171614" iyy="0.00441606455" iyz="-0.00003968914" izz="0.00359156824"/>
    </inertial>
    <visual>
      <origin rpy="0 0 0" xyz="0 0 0"/>
      <geometry>
        <mesh filename="package://pr2_description/meshes/upper_arm_v0/elbow_flex.dae"/>
      </geometry>
      <material name="Grey"/>
    </visual>
    <collision>
      <origin rpy="0 0 0" xyz="0 0 0"/>
      <geometry>
        <mesh filename="package://pr2_description/meshes/upper_arm_v0/elbow_flex.stl"/>
      </geometry>
    </collision>
  </link>
  <!-- testing initial joint position, to be parsed at urdf2gazebo parse time ->
    <gazebo reference="${side}_elbow_flex_joint">
      <initial_joint_position>-1.0</initial_joint_position>
    </gazebo>
    -->
  <gazebo reference="l_elbow_flex_link">
    <turnGravityOff>true</turnGravityOff>
  </gazebo>
  <gazebo reference="l_elbow_flex_joint">
    <stopKd value="1.0"/>
    <stopKp value="1000000.0"/>
  </gazebo>
  <!-- Elbow flex -->
  <transmission name="l_elbow_flex_trans" type="pr2_mechanism_model/SimpleTransmission">
    <actuator name="l_elbow_flex_motor"/>
    <joint name="l_elbow_flex_joint"/>
    <mechanicalReduction>-36.1674520069808</mechanicalReduction>
  </transmission>
  <joint name="l_forearm_joint" type="fixed">
    <origin rpy="0 0 0" xyz="0 0 0"/>
    <!-- transform from parent link to this joint frame -->
    <parent link="l_forearm_roll_link"/>
    <child link="l_forearm_link"/>
  </joint>
  <link name="l_forearm_link">
    <inertial>
      <mass value="2.57968"/>
      <origin xyz="0.18791 -0.00017 -0.00912"/>
      <inertia ixx="0.00364857222" ixy="0.00005215877" ixz="0.00071534842" iyy="0.01507736897" iyz="-0.00001310770" izz="0.01659310749"/>
    </inertial>
    <visual>
      <origin rpy="0 0 0" xyz="0 0 0"/>
      <geometry>
        <mesh filename="package://pr2_description/meshes/forearm_v0/forearm.dae"/>
      </geometry>
      <material name="Grey"/>
    </visual>
    <collision>
      <origin rpy="0 0 0" xyz="0 0 0"/>
      <geometry>
        <mesh filename="package://pr2_description/meshes/forearm_v0/forearm.stl"/>
      </geometry>
    </collision>
  </link>
  <!-- Wrist flex -->
  <joint name="l_wrist_flex_joint" type="revolute">
    <axis xyz="0 1 0"/>
    <limit effort="10" lower="-2.18" upper="0.0" velocity="3.078"/>
    <!-- alpha tested velocity and effort limits -->
    <safety_controller k_position="20" k_velocity="4" soft_lower_limit="-2.0" soft_upper_limit="-0.1"/>
    <dynamics damping="0.1"/>
    <calibration falling="-0.5410521"/>
    <origin rpy="0 0 0" xyz="0.321 0 0"/>
    <parent link="l_forearm_link"/>
    <child link="l_wrist_flex_link"/>
  </joint>
  <link name="l_wrist_flex_link">
    <inertial>
      <mass value="0.61402"/>
      <origin xyz="-0.00157 0.0 -0.00075"/>
      <inertia ixx="0.00065165722" ixy="0.00000028864" ixz="0.00000303477" iyy="0.00019824443" iyz="-0.00000022645" izz="0.00064450498"/>
    </inertial>
    <visual>
      <origin rpy="0 0 0" xyz="0 0 0"/>
      <geometry>
        <mesh filename="package://pr2_description/meshes/forearm_v0/wrist_flex.dae"/>
      </geometry>
      <material name="Grey"/>
    </visual>
    <collision>
      <origin rpy="0 0 0" xyz="0 0 0"/>
      <geometry>
        <mesh filename="package://pr2_description/meshes/forearm_v0/wrist_flex.stl"/>
      </geometry>
    </collision>
  </link>
  <!-- Wrist roll -->
  <joint name="l_wrist_roll_joint" type="continuous">
    <axis xyz="1 0 0"/>
    <limit effort="10" velocity="3.5999999999999996"/>
    <!-- alpha tested velocity and effort limits -->
    <safety_controller k_velocity="2"/>
    <dynamics damping="0.1"/>
    <calibration rising="-1.5707963267948966"/>
    <origin rpy="0 0 0" xyz="0 0 0"/>
    <parent link="l_wrist_flex_link"/>
    <child link="l_wrist_roll_link"/>
  </joint>
  <link name="l_wrist_roll_link">
    <inertial>
      <!-- dummy masses, to be removed.  wrist roll masses are on "gripper_palm" -->
      <mass value="0.1"/>
      <origin xyz="0 0 0"/>
      <inertia ixx="0.01" ixy="0" ixz="0" iyy="0.01" iyz="0" izz="0.01"/>
    </inertial>
    <visual>
      <origin rpy="0 0 0" xyz="0 0 0"/>
      <geometry>
        <mesh filename="package://pr2_description/meshes/forearm_v0/wrist_roll.stl"/>
      </geometry>
      <material name="RollLinks"/>
    </visual>
    <collision>
      <origin rpy="0 0 0" xyz="0 0 0"/>
      <geometry>
        <mesh filename="package://pr2_description/meshes/forearm_v0/wrist_roll_L.stl"/>
      </geometry>
    </collision>
  </link>
  <gazebo reference="l_forearm_link">
    <turnGravityOff>true</turnGravityOff>
  </gazebo>
  <!-- Wrist flex -->
  <gazebo reference="l_wrist_flex_link">
    <turnGravityOff>true</turnGravityOff>
  </gazebo>
  <gazebo reference="l_wrist_flex_joint">
    <stopKd value="1.0"/>
    <stopKp value="1000000.0"/>
  </gazebo>
  <!-- Wrist roll -->
  <gazebo reference="l_wrist_roll_link">
    <turnGravityOff>true</turnGravityOff>
    <material value="PR2/RollLinks"/>
  </gazebo>
  <gazebo reference="l_wrist_roll_joint">
    <fudgeFactor value="0.5"/>
  </gazebo>
  <!-- <xacro:pr2_forearm_transmission_v0 side="${side}" /> -->
  <joint name="l_gripper_palm_joint" type="fixed">
    <origin rpy="0 0 0" xyz="0 0 0"/>
    <parent link="l_wrist_roll_link"/>
    <child link="l_gripper_palm_link"/>
  </joint>
  <link name="l_gripper_palm_link">
    <inertial>
      <mass value="0.58007"/>
      <origin rpy="0 0 0" xyz="0.06623 0.00053 -0.00119"/>
      <inertia ixx="0.00035223921" ixy="-0.00001580476" ixz="-0.00000091750" iyy="0.00067741312" iyz="-0.00000059554" izz="0.00086563316"/>
    </inertial>
    <visual>
      <origin rpy="0 0 0" xyz="0 0 0"/>
      <geometry>
        <mesh filename="package://pr2_description/meshes/gripper_v0/gripper_palm.dae"/>
      </geometry>
      <material name="Red"/>
    </visual>
    <collision>
      <origin rpy="0 0 0" xyz="0 0 0"/>
      <geometry>
        <mesh filename="package://pr2_description/meshes/gripper_v0/gripper_palm.stl"/>
      </geometry>
    </collision>
  </link>
  <joint name="l_gripper_led_joint" type="fixed">
    <!--  Need to check if we need a positive or negative Z term -->
    <origin xyz="0.0513 0.0 .0244"/>
    <parent link="l_gripper_palm_link"/>
    <child link="l_gripper_led_frame"/>
  </joint>
  <link name="l_gripper_led_frame"/>
  <joint name="l_gripper_motor_accelerometer_joint" type="fixed">
    <origin rpy="0 0 0" xyz="0 0 0"/>
    <parent link="l_gripper_palm_link"/>
    <child link="l_gripper_motor_accelerometer_link"/>
  </joint>
  <link name="l_gripper_motor_accelerometer_link">
    <inertial>
      <mass value="0.001"/>
      <origin rpy="0 0 0" xyz="0 0 0"/>
      <inertia ixx="0.001" ixy="0.0" ixz="0.0" iyy="0.001" iyz="0.0" izz="0.001"/>
    </inertial>
    <visual>
      <origin rpy="0 0 0" xyz="0 0 0"/>
      <geometry>
        <box size="0.001 0.001 0.001"/>
      </geometry>
    </visual>
    <collision>
      <origin rpy="0 0 0" xyz="0 0 0"/>
      <geometry>
        <box size="0.001 0.001 0.001"/>
      </geometry>
    </collision>
  </link>
  <joint name="l_gripper_tool_joint" type="fixed">
    <origin rpy="0 0 0" xyz="0.18 0 0"/>
    <parent link="l_gripper_palm_link"/>
    <child link="l_gripper_tool_frame"/>
  </joint>
  <link name="l_gripper_tool_frame"/>
  <!-- actuated motor screw joint -->
  <link name="l_gripper_motor_slider_link">
    <inertial>
      <mass value="0.01"/>
      <origin rpy="0 0 0" xyz="0 0 0"/>
      <inertia ixx="0.001" ixy="0.0" ixz="0.0" iyy="0.001" iyz="0.0" izz="0.001"/>
    </inertial>
    <!-- for debugging only
      <visual>
        <origin xyz="0 0 0" rpy="1.5708 0 0" />
        <geometry>
          <cylinder length="0.002" radius="0.025"/>
        </geometry>
      </visual>
      <collision>
        <origin xyz="0 0 0" rpy="1.5708 0 0" />
        <geometry>
          <cylinder length="0.002" radius="0.025"/>
        </geometry>
      </collision>
      -->
  </link>
  <joint name="l_gripper_motor_slider_joint" type="prismatic">
    <origin rpy="0 0 0" xyz="0.16828 0 0"/>
    <axis xyz="1 0 0"/>
    <parent link="l_gripper_palm_link"/>
    <child link="l_gripper_motor_slider_link"/>
    <limit effort="1000.0" lower="-0.1" upper="0.1" velocity="0.2"/>
  </joint>
  <link name="l_gripper_motor_screw_link">
    <inertial>
      <mass value="0.01"/>
      <origin rpy="0 0 0" xyz="0 0 0"/>
      <inertia ixx="0.0001" ixy="0.0" ixz="0.0" iyy="0.0001" iyz="0.0" izz="0.0001"/>
    </inertial>
    <!-- for debugging only
      <visual>
        <origin xyz="0 0 0" rpy="0 0 0" />
        <geometry>
          <box size="0.05 0.001 0.05" />
        </geometry>
      </visual>
      <collision>
        <origin xyz="0 0 0" rpy="0 0 0" />
        <geometry>
          <box size="0.05 0.001 0.05" />
        </geometry>
      </collision>
      -->
  </link>
  <joint name="l_gripper_motor_screw_joint" type="continuous">
    <origin rpy="0 0 0" xyz="0.0 0 0"/>
    <axis xyz="0 1 0"/>
    <parent link="l_gripper_motor_slider_link"/>
    <child link="l_gripper_motor_screw_link"/>
    <dynamics damping="0.0001"/>
  </joint>
  <!-- Finger proximal digit -->
  <joint name="l_gripper_l_finger_joint" type="revolute">
    <axis xyz="0 0 1"/>
    <!-- limits on passive finger and finger top joints without
         transmission are not enforced by safety controllers.
         The lower/upper limits and are enforced in PR2 simulation and
         effort and velocity limits are ignored. This is also needed because
         these joints are declared revolute rather than continuous.-->
    <limit effort="1000.0" lower="0.0" upper="0.548" velocity="0.5"/>
    <dynamics damping="0.02"/>
    <origin rpy="0 0 0" xyz="0.07691 0.01 0"/>
    <parent link="l_gripper_palm_link"/>
    <child link="l_gripper_l_finger_link"/>
  </joint>
  <link name="l_gripper_l_finger_link">
    <inertial>
      <mass value="0.17126"/>
      <origin rpy="0 0 0" xyz="0.03598 0.01730 -0.00164"/>
      <inertia ixx="0.00007756198" ixy="0.00000149095" ixz="-0.00000983385" iyy="0.00019708305" iyz="-0.00000306125" izz="0.00018105446"/>
    </inertial>
    <visual>
      <origin rpy="0 0 0" xyz="0 0 0"/>
      <geometry>
        <mesh filename="package://pr2_description/meshes/gripper_v0/l_finger.dae"/>
      </geometry>
      <material name="Grey"/>
    </visual>
    <collision>
      <origin rpy="0 0 0" xyz="0 0 0"/>
      <geometry>
        <mesh filename="package://pr2_description/meshes/gripper_v0/l_finger.stl"/>
      </geometry>
    </collision>
  </link>
  <!-- Finger proximal digit -->
  <joint name="l_gripper_r_finger_joint" type="revolute">
    <axis xyz="0 0 -1"/>
    <origin rpy="0 0 0" xyz="0.07691 -0.01 0"/>
    <!-- limits on passive finger and finger top joints without
         transmission are not enforced by safety controllers.
         The lower/upper limits and are enforced in PR2 simulation and
         effort and velocity limits are ignored. This is also needed because
         these joints are declared revolute rather than continuous.-->
    <limit effort="1000.0" lower="0.0" upper="0.548" velocity="0.5"/>
    <dynamics damping="0.02"/>
    <mimic joint="l_gripper_l_finger_joint" multiplier="1" offset="0"/>
    <parent link="l_gripper_palm_link"/>
    <child link="l_gripper_r_finger_link"/>
  </joint>
  <link name="l_gripper_r_finger_link">
    <inertial>
      <mass value="0.17389"/>
      <origin rpy="0 0 0" xyz="0.03576 -0.01736 -0.00095"/>
      <inertia ixx="0.00007738410" ixy="-0.00000209309" ixz="-0.00000836228" iyy="0.00019847383" iyz="0.00000246110" izz="0.00018106988"/>
    </inertial>
    <visual>
      <origin rpy="3.141592653589793 0 0" xyz="0 0 0"/>
      <geometry>
        <mesh filename="package://pr2_description/meshes/gripper_v0/l_finger.dae"/>
      </geometry>
      <material name="Grey"/>
    </visual>
    <collision>
      <origin rpy="3.141592653589793 0 0" xyz="0 0 0"/>
      <geometry>
        <mesh filename="package://pr2_description/meshes/gripper_v0/l_finger.stl"/>
      </geometry>
    </collision>
  </link>
  <!-- Finger tip -->
  <joint name="l_gripper_l_finger_tip_joint" type="revolute">
    <axis xyz="0 0 -1"/>
    <origin rpy="0 0 0" xyz="0.09137 0.00495 0"/>
    <!-- limits on passive finger and finger top joints without
         transmission are not enforced by safety controllers.
         The lower/upper limits and are enforced in PR2 simulation and
         effort and velocity limits are ignored. This is also needed because
         these joints are declared revolute rather than continuous.-->
    <limit effort="1000.0" lower="0.0" upper="0.548" velocity="0.5"/>
    <dynamics damping="0.001"/>
    <mimic joint="l_gripper_l_finger_joint" multiplier="1" offset="0"/>
    <parent link="l_gripper_l_finger_link"/>
    <child link="l_gripper_l_finger_tip_link"/>
  </joint>
  <link name="l_gripper_l_finger_tip_link">
    <inertial>
      <mass value="0.04419"/>
      <origin rpy="0 0 0" xyz="0.00423 0.00284 0.0"/>
      <inertia ixx="0.00000837047" ixy="0.00000583632" ixz="0.0" iyy="0.00000987067" iyz="0.0" izz="0.00001541768"/>
    </inertial>
    <visual>
      <origin rpy="0 0 0" xyz="0 0 0"/>
      <geometry>
        <mesh filename="package://pr2_description/meshes/gripper_v0/l_finger_tip.dae"/>
      </geometry>
      <material name="Green"/>
    </visual>
    <collision>
      <origin rpy="0 0 0" xyz="0 0 0"/>
      <geometry>
        <mesh filename="package://pr2_description/meshes/gripper_v0/l_finger_tip.stl"/>
      </geometry>
    </collision>
  </link>
  <!-- Finger tip -->
  <joint name="l_gripper_r_finger_tip_joint" type="revolute">
    <axis xyz="0 0 1"/>
    <origin rpy="0 0 0" xyz="0.09137 -0.00495 0"/>
    <!-- limits on passive finger and finger top joints without
         transmission are not enforced by safety controllers.
         The lower/upper limits and are enforced in PR2 simulation and
         effort and velocity limits are ignored. This is also needed because
         these joints are declared revolute rather than continuous.-->
    <limit effort="1000.0" lower="0.0" upper="0.548" velocity="0.5"/>
    <dynamics damping="0.001"/>
    <mimic joint="l_gripper_l_finger_joint" multiplier="1" offset="0"/>
    <parent link="l_gripper_r_finger_link"/>
    <child link="l_gripper_r_finger_tip_link"/>
  </joint>
  <link name="l_gripper_r_finger_tip_link">
    <inertial>
      <mass value="0.04419"/>
      <origin rpy="0 0 0" xyz="0.00423 -0.00284 0.0"/>
      <inertia ixx="0.00000837047" ixy="-0.00000583632" ixz="0.0" iyy="0.00000987067" iyz="0.0" izz="0.00001541768"/>
    </inertial>
    <visual>
      <origin rpy="3.141592653589793 0 0" xyz="0 0 0"/>
      <geometry>
        <mesh filename="package://pr2_description/meshes/gripper_v0/l_finger_tip.dae"/>
      </geometry>
      <material name="Green"/>
    </visual>
    <collision>
      <origin rpy="3.141592653589793 0 0" xyz="0 0 0"/>
      <geometry>
        <mesh filename="package://pr2_description/meshes/gripper_v0/l_finger_tip.stl"/>
      </geometry>
    </collision>
  </link>
  <!-- Finger proximal digit -->
  <gazebo reference="l_gripper_l_finger_link">
    <turnGravityOff>true</turnGravityOff>
    <mu1 value="500.0"/>
    <mu2 value="500.0"/>
    <kp value="1000000.0"/>
    <kd value="1.0"/>
    <!-- for "${prefix}_l_finger_joint"-->
  </gazebo>
  <gazebo reference="l_gripper_l_finger_joint">
    <stopKd value="1.0"/>
    <stopKp value="10000000.0"/>
    <fudgeFactor value="1.0"/>
    <provideFeedback value="true"/>
  </gazebo>
  <!-- Finger proximal digit -->
  <gazebo reference="l_gripper_r_finger_link">
    <turnGravityOff>true</turnGravityOff>
    <mu1 value="500.0"/>
    <mu2 value="500.0"/>
    <kp value="1000000.0"/>
    <kd value="1.0"/>
  </gazebo>
  <gazebo reference="l_gripper_r_finger_joint">
    <stopKd value="1.0"/>
    <stopKp value="10000000.0"/>
    <fudgeFactor value="1.0"/>
    <provideFeedback value="true"/>
  </gazebo>
  <!-- Finger tip -->
  <gazebo reference="l_gripper_l_finger_tip_link">
    <turnGravityOff>true</turnGravityOff>
    <selfCollide>false</selfCollide>
    <sensor name="l_gripper_l_finger_tip_contact_sensor" type="contact">
      <update_rate>100.0</update_rate>
      <contact>
        <collision>l_gripper_l_finger_tip_link_collision</collision>
      </contact>
      <plugin filename="libgazebo_ros_bumper.so" name="l_gripper_l_finger_tip_gazebo_ros_bumper_controller">
        <alwaysOn>true</alwaysOn>
        <frameName>l_gripper_l_finger_tip_link</frameName>
        <updateRate>100.0</updateRate>
        <bumperTopicName>l_gripper_l_finger_tip_bumper</bumperTopicName>
      </plugin>
    </sensor>
    <mu1 value="500.0"/>
    <mu2 value="500.0"/>
    <kp value="10000000.0"/>
    <kd value="1.0"/>
  </gazebo>
  <gazebo reference="l_gripper_l_finger_tip_joint">
    <stopKd value="1.0"/>
    <stopKp value="10000000.0"/>
    <fudgeFactor value="1.0"/>
    <provideFeedback value="true"/>
  </gazebo>
  <!-- Finger tip -->
  <gazebo reference="l_gripper_r_finger_tip_link">
    <turnGravityOff>true</turnGravityOff>
    <selfCollide>false</selfCollide>
    <sensor name="l_gripper_r_finger_tip_contact_sensor" type="contact">
      <update_rate>100.0</update_rate>
      <contact>
        <collision>l_gripper_r_finger_tip_link_collision</collision>
      </contact>
      <plugin filename="libgazebo_ros_bumper.so" name="l_gripper_r_finger_tip_gazebo_ros_bumper_controller">
        <alwaysOn>true</alwaysOn>
        <frameName>l_gripper_r_finger_tip_link</frameName>
        <updateRate>100.0</updateRate>
        <bumperTopicName>l_gripper_r_finger_tip_bumper</bumperTopicName>
      </plugin>
    </sensor>
    <mu1 value="500.0"/>
    <mu2 value="500.0"/>
    <kp value="10000000.0"/>
    <kd value="1.0"/>
  </gazebo>
  <gazebo>
    <plugin filename="libgazebo_ros_p3d.so" name="p3d_l_gripper_l_finger_controller">
      <alwaysOn>true</alwaysOn>
      <updateRate>100.0</updateRate>
      <bodyName>l_gripper_l_finger_link</bodyName>
      <topicName>l_gripper_l_finger_pose_ground_truth</topicName>
      <gaussianNoise>0.0</gaussianNoise>
      <frameName>base_link</frameName>
    </plugin>
    <plugin filename="libgazebo_ros_f3d.so" name="f3d_l_gripper_l_finger_controller">
      <alwaysOn>true</alwaysOn>
      <updateRate>100.0</updateRate>
      <bodyName>l_gripper_l_finger_link</bodyName>
      <topicName>l_gripper_l_finger_force_ground_truth</topicName>
    </plugin>
  </gazebo>
  <gazebo reference="l_gripper_r_finger_tip_joint">
    <stopKd value="1.0"/>
    <stopKp value="10000000.0"/>
    <fudgeFactor value="1.0"/>
    <provideFeedback value="true"/>
  </gazebo>
  <!-- parallel link for simulating gripper constraints -->
  <gazebo>
    <link name="l_gripper_l_parallel_link">
      <inertial>
        <mass>0.17126</mass>
        <inertia>
          <ixx>7.7562e-05</ixx>
          <ixy>1.49095e-06</ixy>
          <ixz>-9.83385e-06</ixz>
          <iyy>0.000197083</iyy>
          <iyz>-3.06125e-06</iyz>
          <izz>0.000181054</izz>
        </inertia>
        <pose>0.03598 0.0173 -0.00164 0 0 0</pose>
      </inertial>
      <pose>0.82991 0.219 0.790675 0 -0 0</pose>
      <gravity>false</gravity>
    </link>
    <link name="l_gripper_r_parallel_link">
      <inertial>
        <mass>0.17389</mass>
        <inertia>
          <ixx>7.73841e-05</ixx>
          <ixy>-2.09309e-06</ixy>
          <ixz>-8.36228e-06</ixz>
          <iyy>0.000198474</iyy>
          <iyz>2.4611e-06</iyz>
          <izz>0.00018107</izz>
        </inertia>
        <pose>0.03576 -0.01736 -0.00095 0 0 0</pose>
      </inertial>
      <pose>0.82991 0.157 0.790675 0 0 0</pose>
      <gravity>false</gravity>
    </link>
  </gazebo>
  <gazebo>
    <joint name="l_gripper_r_screw_screw_joint" type="screw">
      <child>l_gripper_motor_screw_link</child>
      <parent>l_gripper_r_finger_tip_link</parent>
      <thread_pitch>-3141.6</thread_pitch>
      <axis>
        <xyz>0 1 0</xyz>
      </axis>
    </joint>
    <joint name="l_gripper_l_screw_screw_joint" type="screw">
      <parent>l_gripper_l_finger_tip_link</parent>
      <child>l_gripper_motor_screw_link</child>
      <thread_pitch>3141.6</thread_pitch>
      <axis>
        <xyz>0 1 0</xyz>
      </axis>
    </joint>
  </gazebo>
  <gazebo>
    <joint name="l_gripper_r_parallel_root_joint" type="revolute">
      <parent>l_gripper_r_parallel_link</parent>
      <child>l_gripper_palm_link</child>
      <axis>
        <xyz>0 0 -1</xyz>
        <dynamics>
          <damping>0.2</damping>
        </dynamics>
      </axis>
      <pose>0.058910000000000004 -0.031 0 0 0 0</pose>
    </joint>
    <joint name="l_gripper_l_parallel_root_joint" type="revolute">
      <parent>l_gripper_l_parallel_link</parent>
      <child>l_gripper_palm_link</child>
      <axis>
        <xyz>0 0 1</xyz>
        <dynamics>
          <damping>0.2</damping>
        </dynamics>
      </axis>
      <pose>0.058910000000000004 0.031 0 0 0 0</pose>
    </joint>
    <joint name="l_gripper_r_parallel_tip_joint" type="revolute">
      <parent>l_gripper_r_parallel_link</parent>
      <child>l_gripper_r_finger_tip_link</child>
      <axis>
        <xyz>0 0 1</xyz>
      </axis>
      <pose>-0.018 -0.021 0 0 0 0</pose>
    </joint>
    <joint name="l_gripper_l_parallel_tip_joint" type="revolute">
      <parent>l_gripper_l_parallel_link</parent>
      <child>l_gripper_l_finger_tip_link</child>
      <axis>
        <xyz>0 0 1</xyz>
      </axis>
      <pose>-0.018 0.021 0 0 0 0</pose>
    </joint>
    <joint name="l_gripper_joint" type="prismatic">
      <parent>l_gripper_r_finger_tip_link</parent>
      <child>l_gripper_l_finger_tip_link</child>
      <axis>
        <xyz>0 1 0</xyz>
      </axis>
    </joint>
  </gazebo>
  <gazebo reference="l_gripper_motor_slider_link">
    <turnGravityOff>true</turnGravityOff>
    <material value="PR2/Red"/>
  </gazebo>
  <gazebo reference="l_gripper_motor_screw_link">
    <turnGravityOff>true</turnGravityOff>
    <material value="PR2/Red"/>
  </gazebo>
  <gazebo reference="l_gripper_l_parallel_link">
    <turnGravityOff>true</turnGravityOff>
    <material value="PR2/Red"/>
  </gazebo>
  <gazebo reference="l_gripper_r_parallel_link">
    <turnGravityOff>true</turnGravityOff>
    <material value="PR2/Red"/>
  </gazebo>
  <!-- fictitous joint that represents the gripper gap -->
  <!-- effort is the linear force at the gripper gap
         velocity limit is the linear velocity limit at the gripper gap
         try and introduce a very stiff spring
         The velocity limits are alpha tested.
         The effort limits are somewhat inflated.
         k_velocity was recently raised from 500.0 to 5000.0.  Tested on beta
    -->
  <joint name="l_gripper_joint" type="prismatic">
    <parent link="l_gripper_r_finger_tip_link"/>
    <child link="l_gripper_l_finger_tip_frame"/>
    <axis xyz="0 1 0"/>
    <dynamics damping="10.0"/>
    <limit effort="1000.0" lower="0.0" upper="0.09" velocity="0.2"/>
    <safety_controller k_position="20.0" k_velocity="5000.0" soft_lower_limit="-0.01" soft_upper_limit="0.088"/>
  </joint>
  <!-- This link is the same as the l_finger_tip_link,
	 but because the urdf does not support graph structures,
	 this link exists twice -->
  <link name="l_gripper_l_finger_tip_frame"/>
  <gazebo reference="l_gripper_palm_link">
    <turnGravityOff>true</turnGravityOff>
  </gazebo>
  <gazebo>
    <plugin filename="libgazebo_ros_p3d.so" name="p3d_l_gripper_palm_controller">
      <alwaysOn>true</alwaysOn>
      <updateRate>100.0</updateRate>
      <bodyName>l_gripper_palm_link</bodyName>
      <topicName>l_gripper_palm_pose_ground_truth</topicName>
      <xyzOffsets>0 0 0</xyzOffsets>
      <rpyOffsets>0 0 0</rpyOffsets>
      <gaussianNoise>0.0</gaussianNoise>
      <frameName>map</frameName>
    </plugin>
    <!-- a formal implementation of grasp hack in gazebo with fixed joint -->
    <gripper name="l_grasp_hack">
      <grasp_check>
        <attach_steps>20</attach_steps>
        <detach_steps>40</detach_steps>
        <min_contact_count>2</min_contact_count>
      </grasp_check>
      <gripper_link>l_gripper_r_finger_tip_link</gripper_link>
      <gripper_link>l_gripper_l_finger_tip_link</gripper_link>
      <palm_link>l_gripper_palm_link</palm_link>
    </gripper>
  </gazebo>
  <!-- <xacro:pr2_gripper_transmission_v0 side="${side}"
        screw_reduction="${screw_reduction}"
        gear_ratio="${gear_ratio}"
        theta0="${theta0}"
        phi0="${phi0}"
        t0="${t0}"
        L0="${L0}"
        h="${h}"
        a="${a}"
        b="${b}"
        r="${r}" /> -->
  <joint name="l_forearm_cam_frame_joint" type="fixed">
    <origin rpy="-1.5707963267948966 -0.5628686837681712 0" xyz=".135 0 .044"/>
    <parent link="l_forearm_roll_link"/>
    <child link="l_forearm_cam_frame"/>
  </joint>
  <link name="l_forearm_cam_frame">
    <inertial>
      <mass value="0.01"/>
      <origin xyz="0 0 0"/>
      <inertia ixx="0.001" ixy="0.0" ixz="0.0" iyy="0.001" iyz="0.0" izz="0.001"/>
    </inertial>
  </link>
  <joint name="l_forearm_cam_optical_frame_joint" type="fixed">
    <origin rpy="-1.5707963267948966 0.0 -1.5707963267948966" xyz="0 0 0"/>
    <parent link="l_forearm_cam_frame"/>
    <child link="l_forearm_cam_optical_frame"/>
  </joint>
  <link name="l_forearm_cam_optical_frame"/>
  <gazebo reference="l_forearm_cam_frame">
    <sensor name="l_forearm_cam_sensor" type="camera">
      <always_on>true</always_on>
      <update_rate>25.0</update_rate>
      <camera>
        <horizontal_fov>1.5707963267948966</horizontal_fov>
        <image>
          <format>R8G8B8</format>
          <width>640</width>
          <height>480</height>
        </image>
        <clip>
          <near>0.1</near>
          <far>100</far>
        </clip>
      </camera>
      <plugin filename="libgazebo_ros_camera.so" name="l_forearm_cam_controller">
        <alwaysOn>true</alwaysOn>
        <updateRate>25.0</updateRate>
        <cameraName>l_forearm_cam</cameraName>
        <imageTopicName>image_raw</imageTopicName>
        <cameraInfoTopicName>camera_info</cameraInfoTopicName>
        <frameName>l_forearm_cam_optical_frame</frameName>
        <hackBaseline>0</hackBaseline>
        <CxPrime>320.5</CxPrime>
        <Cx>320.5</Cx>
        <Cy>240.5</Cy>
        <!-- image_width / (2*tan(hfov_radian /2)) -->
        <!-- 320 for wide and 772.55 for narrow stereo camera -->
        <focalLength>320.000105</focalLength>
        <distortionK1>0.0</distortionK1>
        <distortionK2>0.0</distortionK2>
        <distortionK3>0.0</distortionK3>
        <distortionT1>0.0</distortionT1>
        <distortionT2>0.0</distortionT2>
      </plugin>
    </sensor>
    <turnGravityOff>true</turnGravityOff>
    <material>PR2/Blue</material>
  </gazebo>
  <joint name="r_forearm_cam_frame_joint" type="fixed">
    <origin rpy="1.5707963267948966 -0.5628686837681712 0" xyz=".135 0 .044"/>
    <parent link="r_forearm_roll_link"/>
    <child link="r_forearm_cam_frame"/>
  </joint>
  <link name="r_forearm_cam_frame">
    <inertial>
      <mass value="0.01"/>
      <origin xyz="0 0 0"/>
      <inertia ixx="0.001" ixy="0.0" ixz="0.0" iyy="0.001" iyz="0.0" izz="0.001"/>
    </inertial>
  </link>
  <joint name="r_forearm_cam_optical_frame_joint" type="fixed">
    <origin rpy="-1.5707963267948966 0.0 -1.5707963267948966" xyz="0 0 0"/>
    <parent link="r_forearm_cam_frame"/>
    <child link="r_forearm_cam_optical_frame"/>
  </joint>
  <link name="r_forearm_cam_optical_frame"/>
  <gazebo reference="r_forearm_cam_frame">
    <sensor name="r_forearm_cam_sensor" type="camera">
      <always_on>true</always_on>
      <update_rate>25.0</update_rate>
      <camera>
        <horizontal_fov>1.5707963267948966</horizontal_fov>
        <image>
          <format>R8G8B8</format>
          <width>640</width>
          <height>480</height>
        </image>
        <clip>
          <near>0.1</near>
          <far>100</far>
        </clip>
      </camera>
      <plugin filename="libgazebo_ros_camera.so" name="r_forearm_cam_controller">
        <alwaysOn>true</alwaysOn>
        <updateRate>25.0</updateRate>
        <cameraName>r_forearm_cam</cameraName>
        <imageTopicName>image_raw</imageTopicName>
        <cameraInfoTopicName>camera_info</cameraInfoTopicName>
        <frameName>r_forearm_cam_optical_frame</frameName>
        <hackBaseline>0</hackBaseline>
        <CxPrime>320.5</CxPrime>
        <Cx>320.5</Cx>
        <Cy>240.5</Cy>
        <!-- image_width / (2*tan(hfov_radian /2)) -->
        <!-- 320 for wide and 772.55 for narrow stereo camera -->
        <focalLength>320.000105</focalLength>
        <distortionK1>0.0</distortionK1>
        <distortionK2>0.0</distortionK2>
        <distortionK3>0.0</distortionK3>
        <distortionT1>0.0</distortionT1>
        <distortionT2>0.0</distortionT2>
      </plugin>
    </sensor>
    <turnGravityOff>true</turnGravityOff>
    <material>PR2/Blue</material>
  </gazebo>
</robot>
